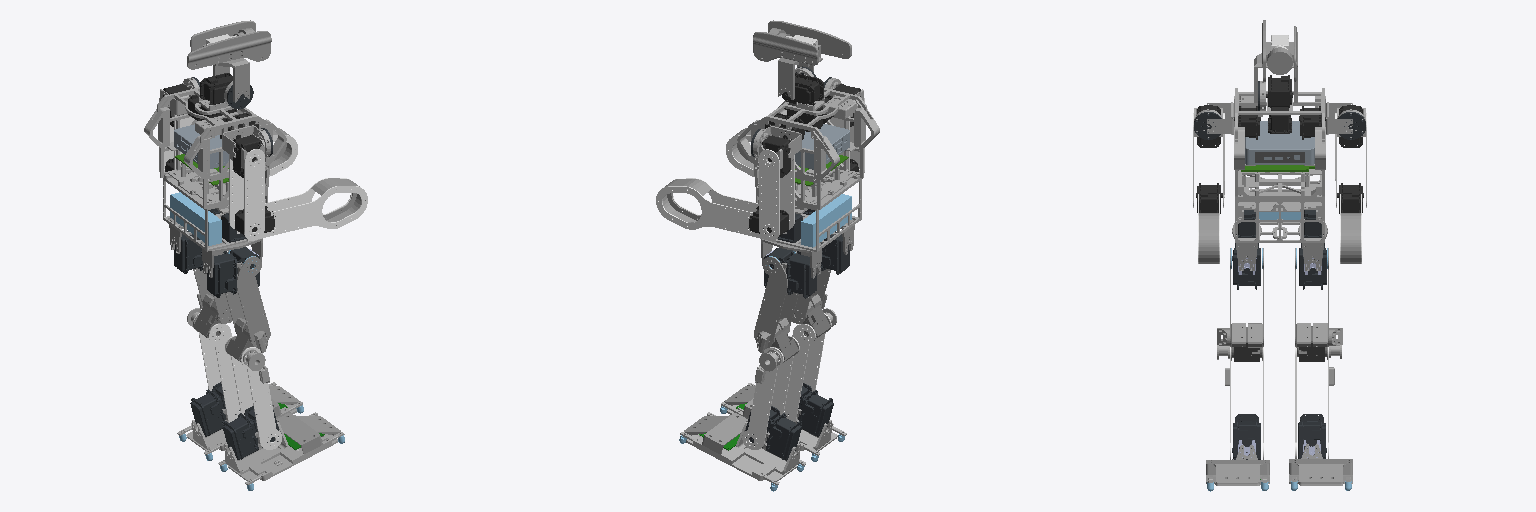
--- Facts derived from the render (not from the file) ---
The picture shows the robot from 3 angles, left to right: view 1: azimuth 30°, elevation 25°; view 2: azimuth 150°, elevation 25°; view 3: azimuth 270°, elevation 25°; orthographic projection.
Robot: wolfgang — 38 links, 37 joints (20 revolute, 17 fixed); root link base_link; default pose: every joint at zero.
Visible links, largest first — view 1: torso, head, r_foot, lower_arm_right_1, upper_arm_1, r_knee, lower_leg_right_1, lower_leg_left_1, l_foot, right_hip_left_ankle_1, l_knee, left_hip_right_ankle_1 (+7 smaller); view 2: torso, l_foot, lower_arm_left_1, head, upper_arm_2, l_knee, lower_leg_left_1, lower_leg_right_1, r_foot, left_hip_right_ankle_2, r_knee, right_hip_left_ankle_2 (+7 smaller); view 3: torso, head, l_foot, r_foot, lower_arm_right_1, lower_arm_left_1, l_knee, r_knee, shoulder_right_1, shoulder_left_1, left_hip_right_ankle_1, right_hip_left_ankle_2 (+6 smaller).
Link boxes in pixels (left/top/right/bottom): torso: left=144, top=87, right=286, bottom=251; head: left=187, top=20, right=271, bottom=108; r_foot: left=218, top=412, right=344, bottom=490; lower_arm_right_1: left=235, top=178, right=367, bottom=241; upper_arm_1: left=229, top=135, right=264, bottom=240; r_knee: left=225, top=250, right=270, bottom=361; lower_leg_right_1: left=225, top=336, right=281, bottom=449; lower_leg_left_1: left=187, top=308, right=240, bottom=422; l_foot: left=177, top=382, right=303, bottom=460; right_hip_left_ankle_1: left=207, top=247, right=259, bottom=297; l_knee: left=193, top=251, right=232, bottom=337; left_hip_right_ankle_1: left=223, top=406, right=278, bottom=459; torso: left=737, top=88, right=879, bottom=251; l_foot: left=679, top=412, right=805, bottom=484; lower_arm_left_1: left=656, top=178, right=788, bottom=241; head: left=753, top=20, right=851, bottom=99; upper_arm_2: left=759, top=135, right=794, bottom=240; l_knee: left=754, top=251, right=798, bottom=361; lower_leg_left_1: left=742, top=336, right=799, bottom=449; lower_leg_right_1: left=783, top=308, right=836, bottom=421; r_foot: left=720, top=383, right=846, bottom=461; left_hip_right_ankle_2: left=764, top=248, right=816, bottom=298; r_knee: left=792, top=252, right=830, bottom=337; right_hip_left_ankle_2: left=745, top=406, right=801, bottom=460; torso: left=1234, top=88, right=1325, bottom=242; head: left=1254, top=20, right=1297, bottom=110; l_foot: left=1289, top=444, right=1352, bottom=490; r_foot: left=1206, top=445, right=1269, bottom=491; lower_arm_right_1: left=1196, top=183, right=1222, bottom=263; lower_arm_left_1: left=1337, top=183, right=1363, bottom=263; l_knee: left=1295, top=248, right=1342, bottom=361; r_knee: left=1217, top=248, right=1263, bottom=361; shoulder_right_1: left=1194, top=102, right=1233, bottom=139; shoulder_left_1: left=1326, top=102, right=1365, bottom=139; left_hip_right_ankle_1: left=1232, top=414, right=1260, bottom=459; right_hip_left_ankle_2: left=1298, top=414, right=1326, bottom=458.
Bounding box of the posed robot: 0.3145 × 0.2895 × 0.8067 m (x, y, z).
Meshes: 53 distinct files referenced, 133 mesh visuals loaded (51 binary STL); not drawn: 2 (reference not matched to a file when rendering).

URDF robot description (wolfgang):
<?xml version="1.0" ?>
<!-- =================================================================================== -->
<!-- |    This document was autogenerated by xacro from robot.urdf                     | -->
<!-- |    EDITING THIS FILE BY HAND IS NOT RECOMMENDED                                 | -->
<!-- =================================================================================== -->
<robot name="wolfgang">
  <link name="base_link"/>
  <joint name="base_link_to_base" type="fixed">
    <parent link="base_link"/>
    <child link="torso"/>
    <origin rpy="0.0 0 0" xyz="0 0 0"/>
  </joint>
  <link name="torso">
    <visual>
      <origin rpy="-3.14159 1.5708 0" xyz="-0.0015 0.053 0.2035"/>
      <geometry>
        <mesh filename="package://wolfgang_description/urdf/mx-64-body.stl"/>
      </geometry>
      <material name="mx-64-body_material">
        <color rgba="0.247059 0.247059 0.247059 1.0"/>
      </material>
    </visual>
    <collision>
      <origin rpy="-3.14159 1.5708 0" xyz="-0.0015 0.053 0.2035"/>
      <geometry>
        <mesh filename="package://wolfgang_description/urdf/mx-64-body.stl"/>
      </geometry>
      <material name="mx-64-body_material">
        <color rgba="0.247059 0.247059 0.247059 1.0"/>
      </material>
    </collision>
    <visual>
      <origin rpy="1.5708 1.5708 0" xyz="0.058 0.07 0.1455"/>
      <geometry>
        <mesh filename="package://wolfgang_description/urdf/nuc_holdingrail_left.stl"/>
      </geometry>
      <material name="nuc_holdingrail_left_material">
        <color rgba="0.717647 0.717647 0.717647 1.0"/>
      </material>
    </visual>
    <collision>
      <origin rpy="1.5708 1.5708 0" xyz="0.058 0.07 0.1455"/>
      <geometry>
        <mesh filename="package://wolfgang_description/urdf/nuc_holdingrail_left.stl"/>
      </geometry>
      <material name="nuc_holdingrail_left_material">
        <color rgba="0.717647 0.717647 0.717647 1.0"/>
      </material>
    </collision>
    <visual>
      <origin rpy="1.5708 -0 -1.5708" xyz="-0.02625 0.0025 0.0275"/>
      <geometry>
        <mesh filename="package://wolfgang_description/urdf/battery_dummy.stl"/>
      </geometry>
      <material name="battery_dummy_material">
        <color rgba="0.615686 0.811765 0.929412 1.0"/>
      </material>
    </visual>
    <collision>
      <origin rpy="1.5708 -0 -1.5708" xyz="-0.02625 0.0025 0.0275"/>
      <geometry>
        <mesh filename="package://wolfgang_description/urdf/battery_dummy.stl"/>
      </geometry>
      <material name="battery_dummy_material">
        <color rgba="0.615686 0.811765 0.929412 1.0"/>
      </material>
    </collision>
    <visual>
      <origin rpy="-1.2326e-32 -1.5708 0" xyz="-0.0015 -0.053 0.2035"/>
      <geometry>
        <mesh filename="package://wolfgang_description/urdf/mx-64-body.stl"/>
      </geometry>
      <material name="mx-64-body_material">
        <color rgba="0.247059 0.247059 0.247059 1.0"/>
      </material>
    </visual>
    <collision>
      <origin rpy="-1.2326e-32 -1.5708 0" xyz="-0.0015 -0.053 0.2035"/>
      <geometry>
        <mesh filename="package://wolfgang_description/urdf/mx-64-body.stl"/>
      </geometry>
      <material name="mx-64-body_material">
        <color rgba="0.247059 0.247059 0.247059 1.0"/>
      </material>
    </collision>
    <visual>
      <origin rpy="-1.5708 -0 1.5708" xyz="-2.17271e-16 0.055 0.043"/>
      <geometry>
        <mesh filename="package://wolfgang_description/urdf/router_left.stl"/>
      </geometry>
      <material name="router_left_material">
        <color rgba="0.717647 0.717647 0.717647 1.0"/>
      </material>
    </visual>
    <collision>
      <origin rpy="-1.5708 -0 1.5708" xyz="-2.17271e-16 0.055 0.043"/>
      <geometry>
        <mesh filename="package://wolfgang_description/urdf/router_left.stl"/>
      </geometry>
      <material name="router_left_material">
        <color rgba="0.717647 0.717647 0.717647 1.0"/>
      </material>
    </collision>
    <visual>
      <origin rpy="-1.5708 6.08341e-17 1.5708" xyz="-0.057 0.077 0.213915"/>
      <geometry>
        <mesh filename="package://wolfgang_description/urdf/torso_bumper_right.stl"/>
      </geometry>
      <material name="torso_bumper_right_material">
        <color rgba="0.717647 0.717647 0.717647 1.0"/>
      </material>
    </visual>
    <collision>
      <origin rpy="-1.5708 6.08341e-17 1.5708" xyz="-0.057 0.077 0.213915"/>
      <geometry>
        <mesh filename="package://wolfgang_description/urdf/torso_bumper_right.stl"/>
      </geometry>
      <material name="torso_bumper_right_material">
        <color rgba="0.717647 0.717647 0.717647 1.0"/>
      </material>
    </collision>
    <visual>
      <origin rpy="-5.55112e-17 8.2173e-33 -1.5708" xyz="-0.01 0.001 0.118"/>
      <geometry>
        <mesh filename="package://wolfgang_description/urdf/core.stl"/>
      </geometry>
      <material name="core_material">
        <color rgba="0.282353 0.54902 0.160784 1.0"/>
      </material>
    </visual>
    <collision>
      <origin rpy="-5.55112e-17 8.2173e-33 -1.5708" xyz="-0.01 0.001 0.118"/>
      <geometry>
        <mesh filename="package://wolfgang_description/urdf/core.stl"/>
      </geometry>
      <material name="core_material">
        <color rgba="0.282353 0.54902 0.160784 1.0"/>
      </material>
    </collision>
    <visual>
      <origin rpy="1.5708 -0 -1.5708" xyz="0 -0.055 0.026"/>
      <geometry>
        <mesh filename="package://wolfgang_description/urdf/mx-106_body.stl"/>
      </geometry>
      <material name="mx-106_body_material">
        <color rgba="0.262745 0.282353 0.301961 1.0"/>
      </material>
    </visual>
    <collision>
      <origin rpy="1.5708 -0 -1.5708" xyz="0 -0.055 0.026"/>
      <geometry>
        <mesh filename="package://wolfgang_description/urdf/mx-106_body.stl"/>
      </geometry>
      <material name="mx-106_body_material">
        <color rgba="0.262745 0.282353 0.301961 1.0"/>
      </material>
    </collision>
    <visual>
      <origin rpy="-1.5708 -6.08341e-17 -1.5708" xyz="0.053 0.077 0.213915"/>
      <geometry>
        <mesh filename="package://wolfgang_description/urdf/torso_bumper_left.stl"/>
      </geometry>
      <material name="torso_bumper_left_material">
        <color rgba="0.717647 0.717647 0.717647 1.0"/>
      </material>
    </visual>
    <collision>
      <origin rpy="-1.5708 -6.08341e-17 -1.5708" xyz="0.053 0.077 0.213915"/>
      <geometry>
        <mesh filename="package://wolfgang_description/urdf/torso_bumper_left.stl"/>
      </geometry>
      <material name="torso_bumper_left_material">
        <color rgba="0.717647 0.717647 0.717647 1.0"/>
      </material>
    </collision>
    <visual>
      <origin rpy="1.5708 -0 -1.5708" xyz="-2.2754e-16 0.055 0.026"/>
      <geometry>
        <mesh filename="package://wolfgang_description/urdf/mx-106_body.stl"/>
      </geometry>
      <material name="mx-106_body_material">
        <color rgba="0.262745 0.282353 0.301961 1.0"/>
      </material>
    </visual>
    <collision>
      <origin rpy="1.5708 -0 -1.5708" xyz="-2.2754e-16 0.055 0.026"/>
      <geometry>
        <mesh filename="package://wolfgang_description/urdf/mx-106_body.stl"/>
      </geometry>
      <material name="mx-106_body_material">
        <color rgba="0.262745 0.282353 0.301961 1.0"/>
      </material>
    </collision>
    <visual>
      <origin rpy="1.11022e-16 1.0261e-16 1.5708" xyz="0.00265 -0.0001 0.1455"/>
      <geometry>
        <mesh filename="package://wolfgang_description/urdf/nuc_bottom.stl"/>
      </geometry>
      <material name="nuc_bottom_material">
        <color rgba="0.301961 0.301961 0.301961 1.0"/>
      </material>
    </visual>
    <collision>
      <origin rpy="1.11022e-16 1.0261e-16 1.5708" xyz="0.00265 -0.0001 0.1455"/>
      <geometry>
        <mesh filename="package://wolfgang_description/urdf/nuc_bottom.stl"/>
      </geometry>
      <material name="nuc_bottom_material">
        <color rgba="0.301961 0.301961 0.301961 1.0"/>
      </material>
    </collision>
    <visual>
      <origin rpy="-3.14159 1.5708 0" xyz="-0.0015 -0.036 0.2035"/>
      <geometry>
        <mesh filename="package://wolfgang_description/urdf/imu_holder.stl"/>
      </geometry>
      <material name="imu_holder_material">
        <color rgba="0.717647 0.717647 0.717647 1.0"/>
      </material>
    </visual>
    <collision>
      <origin rpy="-3.14159 1.5708 0" xyz="-0.0015 -0.036 0.2035"/>
      <geometry>
        <mesh filename="package://wolfgang_description/urdf/imu_holder.stl"/>
      </geometry>
      <material name="imu_holder_material">
        <color rgba="0.717647 0.717647 0.717647 1.0"/>
      </material>
    </collision>
    <visual>
      <origin rpy="1.66533e-16 -1.9123e-16 1.5708" xyz="0.00265 -0.0001 0.1455"/>
      <geometry>
        <mesh filename="package://wolfgang_description/urdf/nuc_front.stl"/>
      </geometry>
      <material name="nuc_front_material">
        <color rgba="0.4 0.4 0.4 1.0"/>
      </material>
    </visual>
    <collision>
      <origin rpy="1.66533e-16 -1.9123e-16 1.5708" xyz="0.00265 -0.0001 0.1455"/>
      <geometry>
        <mesh filename="package://wolfgang_description/urdf/nuc_front.stl"/>
      </geometry>
      <material name="nuc_front_material">
        <color rgba="0.4 0.4 0.4 1.0"/>
      </material>
    </collision>
    <visual>
      <origin rpy="0 -0 0" xyz="-0.062 0.075 0.003"/>
      <geometry>
        <mesh filename="package://wolfgang_description/urdf/torso_bottom.stl"/>
      </geometry>
      <material name="torso_bottom_material">
        <color rgba="0.717647 0.717647 0.717647 1.0"/>
      </material>
    </visual>
    <collision>
      <origin rpy="0 -0 0" xyz="-0.062 0.075 0.003"/>
      <geometry>
        <mesh filename="package://wolfgang_description/urdf/torso_bottom.stl"/>
      </geometry>
      <material name="torso_bottom_material">
        <color rgba="0.717647 0.717647 0.717647 1.0"/>
      </material>
    </collision>
    <visual>
      <origin rpy="3.14159 5.34761e-17 -1.5708" xyz="-0.037 -0.0478 0.2141"/>
      <geometry>
        <mesh filename="package://wolfgang_description/urdf/imu_bottom_cover.stl"/>
      </geometry>
      <material name="imu_bottom_cover_material">
        <color rgba="0.717647 0.717647 0.717647 1.0"/>
      </material>
    </visual>
    <collision>
      <origin rpy="3.14159 5.34761e-17 -1.5708" xyz="-0.037 -0.0478 0.2141"/>
      <geometry>
        <mesh filename="package://wolfgang_description/urdf/imu_bottom_cover.stl"/>
      </geometry>
      <material name="imu_bottom_cover_material">
        <color rgba="0.717647 0.717647 0.717647 1.0"/>
      </material>
    </collision>
    <visual>
      <origin rpy="-1.5708 -0 1.5708" xyz="-0.0095 2.94903e-16 0.211"/>
      <geometry>
        <mesh filename="package://wolfgang_description/urdf/mx-64-body.stl"/>
      </geometry>
      <material name="mx-64-body_material">
        <color rgba="0.247059 0.247059 0.247059 1.0"/>
      </material>
    </visual>
    <collision>
      <origin rpy="-1.5708 -0 1.5708" xyz="-0.0095 2.94903e-16 0.211"/>
      <geometry>
        <mesh filename="package://wolfgang_description/urdf/mx-64-body.stl"/>
      </geometry>
      <material name="mx-64-body_material">
        <color rgba="0.247059 0.247059 0.247059 1.0"/>
      </material>
    </collision>
    <visual>
      <origin rpy="-1.5708 1.0261e-16 1.5708" xyz="1.35075e-15 -0.055 0.043"/>
      <geometry>
        <mesh filename="package://wolfgang_description/urdf/router_right.stl"/>
      </geometry>
      <material name="router_right_material">
        <color rgba="0.717647 0.717647 0.717647 1.0"/>
      </material>
    </visual>
    <collision>
      <origin rpy="-1.5708 1.0261e-16 1.5708" xyz="1.35075e-15 -0.055 0.043"/>
      <geometry>
        <mesh filename="package://wolfgang_description/urdf/router_right.stl"/>
      </geometry>
      <material name="router_right_material">
        <color rgba="0.717647 0.717647 0.717647 1.0"/>
      </material>
    </collision>
    <visual>
      <origin rpy="-1.5708 -6.08341e-17 1.5708" xyz="-0.057 -0.077 0.213915"/>
      <geometry>
        <mesh filename="package://wolfgang_description/urdf/torso_bumper_left.stl"/>
      </geometry>
      <material name="torso_bumper_left_material">
        <color rgba="0.717647 0.717647 0.717647 1.0"/>
      </material>
    </visual>
    <collision>
      <origin rpy="-1.5708 -6.08341e-17 1.5708" xyz="-0.057 -0.077 0.213915"/>
      <geometry>
        <mesh filename="package://wolfgang_description/urdf/torso_bumper_left.stl"/>
      </geometry>
      <material name="torso_bumper_left_material">
        <color rgba="0.717647 0.717647 0.717647 1.0"/>
      </material>
    </collision>
    <visual>
      <origin rpy="-5.55112e-17 -1.64346e-32 -1.5708" xyz="-0.002 -3.19189e-16 0.088"/>
      <geometry>
        <mesh filename="package://wolfgang_description/urdf/baseplate_odroid_xu4_core.stl"/>
      </geometry>
      <material name="baseplate_odroid_xu4_core_material">
        <color rgba="0.717647 0.717647 0.717647 1.0"/>
      </material>
    </visual>
    <collision>
      <origin rpy="-5.55112e-17 -1.64346e-32 -1.5708" xyz="-0.002 -3.19189e-16 0.088"/>
      <geometry>
        <mesh filename="package://wolfgang_description/urdf/baseplate_odroid_xu4_core.stl"/>
      </geometry>
      <material name="baseplate_odroid_xu4_core_material">
        <color rgba="0.717647 0.717647 0.717647 1.0"/>
      </material>
    </collision>
    <visual>
      <origin rpy="-1.5708 6.91935e-17 -1.5708" xyz="0.051 0.0367 0.057"/>
      <geometry>
        <mesh filename="package://wolfgang_description/urdf/router.stl"/>
      </geometry>
      <material name="router_material">
        <color rgba="0.717647 0.717647 0.717647 1.0"/>
      </material>
    </visual>
    <collision>
      <origin rpy="-1.5708 6.91935e-17 -1.5708" xyz="0.051 0.0367 0.057"/>
      <geometry>
        <mesh filename="package://wolfgang_description/urdf/router.stl"/>
      </geometry>
      <material name="router_material">
        <color rgba="0.717647 0.717647 0.717647 1.0"/>
      </material>
    </collision>
    <visual>
      <origin rpy="1.11022e-16 2.83582e-16 1.5708" xyz="0.00265 -0.0001 0.1455"/>
      <geometry>
        <mesh filename="package://wolfgang_description/urdf/nuc_main.stl"/>
      </geometry>
      <material name="nuc_main_material">
        <color rgba="0.603922 0.647059 0.686275 1.0"/>
      </material>
    </visual>
    <collision>
      <origin rpy="1.11022e-16 2.83582e-16 1.5708" xyz="0.00265 -0.0001 0.1455"/>
      <geometry>
        <mesh filename="package://wolfgang_description/urdf/nuc_main.stl"/>
      </geometry>
      <material name="nuc_main_material">
        <color rgba="0.603922 0.647059 0.686275 1.0"/>
      </material>
    </collision>
    <visual>
      <origin rpy="-1.5708 6.08341e-17 -1.5708" xyz="0.053 -0.077 0.213915"/>
      <geometry>
        <mesh filename="package://wolfgang_description/urdf/torso_bumper_right.stl"/>
      </geometry>
      <material name="torso_bumper_right_material">
        <color rgba="0.717647 0.717647 0.717647 1.0"/>
      </material>
    </visual>
    <collision>
      <origin rpy="-1.5708 6.08341e-17 -1.5708" xyz="0.053 -0.077 0.213915"/>
      <geometry>
        <mesh filename="package://wolfgang_description/urdf/torso_bumper_right.stl"/>
      </geometry>
      <material name="torso_bumper_right_material">
        <color rgba="0.717647 0.717647 0.717647 1.0"/>
      </material>
    </collision>
    <visual>
      <origin rpy="1.5708 1.5708 0" xyz="0.058 -0.07 0.1455"/>
      <geometry>
        <mesh filename="package://wolfgang_description/urdf/nuc_holdingrail_right.stl"/>
      </geometry>
      <material name="nuc_holdingrail_right_material">
        <color rgba="0.717647 0.717647 0.717647 1.0"/>
      </material>
    </visual>
    <collision>
      <origin rpy="1.5708 1.5708 0" xyz="0.058 -0.07 0.1455"/>
      <geometry>
        <mesh filename="package://wolfgang_description/urdf/nuc_holdingrail_right.stl"/>
      </geometry>
      <material name="nuc_holdingrail_right_material">
        <color rgba="0.717647 0.717647 0.717647 1.0"/>
      </material>
    </collision>
    <visual>
      <origin rpy="0 -0 1.5708" xyz="-0.077 -0.075 0.083"/>
      <geometry>
        <mesh filename="package://wolfgang_description/urdf/torso_top.stl"/>
      </geometry>
      <material name="torso_top_material">
        <color rgba="0.717647 0.717647 0.717647 1.0"/>
      </material>
    </visual>
    <collision>
      <origin rpy="0 -0 1.5708" xyz="-0.077 -0.075 0.083"/>
      <geometry>
        <mesh filename="package://wolfgang_description/urdf/torso_top.stl"/>
      </geometry>
      <material name="torso_top_material">
        <color rgba="0.717647 0.717647 0.717647 1.0"/>
      </material>
    </collision>
    <inertial>
      <origin rpy="0 0 0" xyz="-0.00177581 -9.7212e-05 0.107062"/>
      <mass value="1.79116"/>
      <inertia ixx="0.0165883" ixy="5.67507e-06" ixz="-0.000843992" iyy="0.0143606" iyz="0.000156333" izz="0.00676935"/>
    </inertial>
  </link>
  <link name="imu_frame">
    <inertial>
      <origin rpy="0 0 0" xyz="0 0 0"/>
      <mass value="1e-9"/>
      <inertia ixx="0" ixy="0" ixz="0" iyy="0" iyz="0" izz="0"/>
    </inertial>
  </link>
  <joint name="imu_frame_frame" type="fixed">
    <origin rpy="5.31321e-16 -3.12873e-17 4.65401e-17" xyz="-0.0367504 -0.0478024 0.224"/>
    <parent link="torso"/>
    <child link="imu_frame"/>
    <axis xyz="0 0 0"/>
  </joint>
  <link name="shoulder_right_1">
    <visual>
      <origin rpy="-1.5708 2.89513e-24 1.5708" xyz="-0.02595 0.042 2.77556e-17"/>
      <geometry>
        <mesh filename="package://wolfgang_description/urdf/sea_connector.stl"/>
      </geometry>
      <material name="sea_connector_material">
        <color rgba="0.262745 0.282353 0.301961 1.0"/>
      </material>
    </visual>
    <collision>
      <origin rpy="-1.5708 2.89513e-24 1.5708" xyz="-0.02595 0.042 2.77556e-17"/>
      <geometry>
        <mesh filename="package://wolfgang_description/urdf/sea_connector.stl"/>
      </geometry>
      <material name="sea_connector_material">
        <color rgba="0.262745 0.282353 0.301961 1.0"/>
      </material>
    </collision>
    <visual>
      <origin rpy="-1.5708 2.89513e-24 1.5708" xyz="-0.01695 0.042 8.32667e-17"/>
      <geometry>
        <mesh filename="package://wolfgang_description/urdf/sea_ninjaflex.stl"/>
      </geometry>
      <material name="sea_ninjaflex_material">
        <color rgba="0.717647 0.717647 0.717647 1.0"/>
      </material>
    </visual>
    <collision>
      <origin rpy="-1.5708 2.89513e-24 1.5708" xyz="-0.01695 0.042 8.32667e-17"/>
      <geometry>
        <mesh filename="package://wolfgang_description/urdf/sea_ninjaflex.stl"/>
      </geometry>
      <material name="sea_ninjaflex_material">
        <color rgba="0.717647 0.717647 0.717647 1.0"/>
      </material>
    </collision>
    <visual>
      <origin rpy="2.4048e-34 -1.72563e-31 -1.5783e-33" xyz="0 0 2.77556e-17"/>
      <geometry>
        <mesh filename="package://wolfgang_description/urdf/shoulder_connector.stl"/>
      </geometry>
      <material name="shoulder_connector_material">
        <color rgba="0.717647 0.717647 0.717647 1.0"/>
      </material>
    </visual>
    <collision>
      <origin rpy="2.4048e-34 -1.72563e-31 -1.5783e-33" xyz="0 0 2.77556e-17"/>
      <geometry>
        <mesh filename="package://wolfgang_description/urdf/shoulder_connector.stl"/>
      </geometry>
      <material name="shoulder_connector_material">
        <color rgba="0.717647 0.717647 0.717647 1.0"/>
      </material>
    </collision>
    <inertial>
      <origin rpy="0 0 0" xyz="-0.0135397 0.0284022 -1.54699e-06"/>
      <mass value="0.041445"/>
      <inertia ixx="1.85473e-05" ixy="7.63058e-06" ixz="-9.41386e-10" iyy="2.76649e-05" iyz="8.71825e-10" izz="3.49573e-05"/>
    </inertial>
  </link>
  <link name="upper_arm_1">
    <visual>
      <origin rpy="-1.5708 4.16334e-16 -2.10942e-15" xyz="1.38778e-17 1.11022e-16 -0.0235"/>
      <geometry>
        <mesh filename="package://wolfgang_description/urdf/mx-64-body.stl"/>
      </geometry>
      <material name="mx-64-body_material">
        <color rgba="0.247059 0.247059 0.247059 1.0"/>
      </material>
    </visual>
    <collision>
      <origin rpy="-1.5708 4.16334e-16 -2.10942e-15" xyz="1.38778e-17 1.11022e-16 -0.0235"/>
      <geometry>
        <mesh filename="package://wolfgang_description/urdf/mx-64-body.stl"/>
      </geometry>
      <material name="mx-64-body_material">
        <color rgba="0.247059 0.247059 0.247059 1.0"/>
      </material>
    </collision>
    <visual>
      <origin rpy="-1.5708 -1.5708 0" xyz="0.0265 -0.144 -0.0235"/>
      <geometry>
        <mesh filename="package://wolfgang_description/urdf/upper_arm.stl"/>
      </geometry>
      <material name="upper_arm_material">
        <color rgba="0.960784 0.960784 0.960784 1.0"/>
      </material>
    </visual>
    <collision>
      <origin rpy="-1.5708 -1.5708 0" xyz="0.0265 -0.144 -0.0235"/>
      <geometry>
        <mesh filename="package://wolfgang_description/urdf/upper_arm.stl"/>
      </geometry>
      <material name="upper_arm_material">
        <color rgba="0.960784 0.960784 0.960784 1.0"/>
      </material>
    </collision>
    <visual>
      <origin rpy="-1.5708 -8.88178e-16 1.5708" xyz="-0.0147 -0.0105 -0.0235"/>
      <geometry>
        <mesh filename="package://wolfgang_description/urdf/connector_shoulder.stl"/>
      </geometry>
      <material name="connector_shoulder_material">
        <color rgba="0.717647 0.717647 0.717647 1.0"/>
      </material>
    </visual>
    <collision>
      <origin rpy="-1.5708 -8.88178e-16 1.5708" xyz="-0.0147 -0.0105 -0.0235"/>
      <geometry>
        <mesh filename="package://wolfgang_description/urdf/connector_shoulder.stl"/>
      </geometry>
      <material name="connector_shoulder_material">
        <color rgba="0.717647 0.717647 0.717647 1.0"/>
      </material>
    </collision>
    <visual>
      <origin rpy="-1.5708 1.5708 0" xyz="-0.0265 -0.144 -0.0235"/>
      <geometry>
        <mesh filename="package://wolfgang_description/urdf/upper_arm.stl"/>
      </geometry>
      <material name="upper_arm_material">
        <color rgba="0.960784 0.960784 0.960784 1.0"/>
      </material>
    </visual>
    <collision>
      <origin rpy="-1.5708 1.5708 0" xyz="-0.0265 -0.144 -0.0235"/>
      <geometry>
        <mesh filename="package://wolfgang_description/urdf/upper_arm.stl"/>
      </geometry>
      <material name="upper_arm_material">
        <color rgba="0.960784 0.960784 0.960784 1.0"/>
      </material>
    </collision>
    <visual>
      <origin rpy="1.5708 -8.88178e-16 1.5708" xyz="0.0147 -0.0105 -0.0235"/>
      <geometry>
        <mesh filename="package://wolfgang_description/urdf/connector_shoulder.stl"/>
      </geometry>
      <material name="connector_shoulder_material">
        <color rgba="0.717647 0.717647 0.717647 1.0"/>
      </material>
    </visual>
    <collision>
      <origin rpy="1.5708 -8.88178e-16 1.5708" xyz="0.0147 -0.0105 -0.0235"/>
      <geometry>
        <mesh filename="package://wolfgang_description/urdf/connector_shoulder.stl"/>
      </geometry>
      <material name="connector_shoulder_material">
        <color rgba="0.717647 0.717647 0.717647 1.0"/>
      </material>
    </collision>
    <inertial>
      <origin rpy="0 0 0" xyz="6.71448e-10 -0.0286557 -0.0235557"/>
      <mass value="0.206164"/>
      <inertia ixx="0.000204986" ixy="1.94871e-12" ixz="3.40342e-12" iyy="0.000171949" iyz="-3.58687e-07" izz="0.000333232"/>
    </inertial>
  </link>
  <link name="lower_arm_right_1">
    <visual>
      <origin rpy="-1.5708 -1.02349e-15 -3.14159" xyz="3.19189e-16 -0.163682 -0.0065"/>
      <geometry>
        <mesh filename="package://wolfgang_description/urdf/lower_arm.stl"/>
      </geometry>
      <material name="lower_arm_material">
        <color rgba="0.960784 0.960784 0.960784 1.0"/>
      </material>
    </visual>
    <collision>
      <origin rpy="-1.5708 -1.02349e-15 -3.14159" xyz="3.19189e-16 -0.163682 -0.0065"/>
      <geometry>
        <mesh filename="package://wolfgang_description/urdf/lower_arm.stl"/>
      </geometry>
      <material name="lower_arm_material">
        <color rgba="0.960784 0.960784 0.960784 1.0"/>
      </material>
    </collision>
    <visual>
      <origin rpy="-1.5708 5.6205e-16 -5.30016e-31" xyz="0 -3.46945e-18 -0.0235"/>
      <geometry>
        <mesh filename="package://wolfgang_description/urdf/mx-64-body.stl"/>
      </geometry>
      <material name="mx-64-body_material">
        <color rgba="0.247059 0.247059 0.247059 1.0"/>
      </material>
    </visual>
    <collision>
      <origin rpy="-1.5708 5.6205e-16 -5.30016e-31" xyz="0 -3.46945e-18 -0.0235"/>
      <geometry>
        <mesh filename="package://wolfgang_description/urdf/mx-64-body.stl"/>
      </geometry>
      <material name="mx-64-body_material">
        <color rgba="0.247059 0.247059 0.247059 1.0"/>
      </material>
    </collision>
    <visual>
      <origin rpy="1.5708 1.84661e-15 9.4369e-16" xyz="2.70617e-16 -0.163682 -0.0065"/>
      <geometry>
        <mesh filename="package://wolfgang_description/urdf/hand.stl"/>
      </geometry>
      <material name="hand_material">
        <color rgba="0.647059 0.647059 0.647059 1.0"/>
      </material>
    </visual>
    <collision>
      <origin rpy="1.5708 1.84661e-15 9.4369e-16" xyz="2.70617e-16 -0.163682 -0.0065"/>
      <geometry>
        <mesh filename="package://wolfgang_description/urdf/hand.stl"/>
      </geometry>
      <material name="hand_material">
        <color rgba="0.647059 0.647059 0.647059 1.0"/>
      </material>
    </collision>
    <visual>
      <origin rpy="-1.5708 -7.02563e-16 -3.14159" xyz="2.84495e-16 -0.163682 -0.0425"/>
      <geometry>
        <mesh filename="package://wolfgang_description/urdf/lower_arm.stl"/>
      </geometry>
      <material name="lower_arm_material">
        <color rgba="0.960784 0.960784 0.960784 1.0"/>
      </material>
    </visual>
    <collision>
      <origin rpy="-1.5708 -7.02563e-16 -3.14159" xyz="2.84495e-16 -0.163682 -0.0425"/>
      <geometry>
        <mesh filename="package://wolfgang_description/urdf/lower_arm.stl"/>
      </geometry>
      <material name="lower_arm_material">
        <color rgba="0.960784 0.960784 0.960784 1.0"/>
      </material>
    </collision>
    <inertial>
      <origin rpy="0 0 0" xyz="0.000436307 -0.0605126 -0.0235553"/>
      <mass value="0.207774"/>
      <inertia ixx="0.001088" ixy="-1.16188e-06" ixz="-5.01515e-09" iyy="8.90324e-05" iyz="-3.22666e-08" izz="0.00110076"/>
    </inertial>
  </link>
  <link name="r_wrist">
    <inertial>
      <origin rpy="0 0 0" xyz="0 0 0"/>
      <mass value="1e-9"/>
      <inertia ixx="0" ixy="0" ixz="0" iyy="0" iyz="0" izz="0"/>
    </inertial>
  </link>
  <joint name="r_wrist_frame" type="fixed">
    <origin rpy="1.5708 7.31053e-15 -1.5708" xyz="3.1225e-16 -0.226182 -0.0235"/>
    <parent link="lower_arm_right_1"/>
    <child link="r_wrist"/>
    <axis xyz="0 0 0"/>
  </joint>
  <joint name="RElbow" type="revolute">
    <origin rpy="-1.5708 1.27676e-15 -1.5708" xyz="0.024 -0.144 -0.0235"/>
    <parent link="upper_arm_1"/>
    <child link="lower_arm_right_1"/>
    <axis xyz="0 0 1"/>
    <limit effort="5.43" lower="-1.0472" upper="1.5708" velocity="10.33"/>
    <joint_properties friction="0.0"/>
  </joint>
  <joint name="RShoulderRoll" type="revolute">
    <origin rpy="1.5708 8.32338e-16 -1.5708" xyz="-0.01695 0.042 0"/>
    <parent link="shoulder_right_1"/>
    <child link="upper_arm_1"/>
    <axis xyz="0 0 1"/>
    <limit effort="5.43" lower="-3.14159" upper="0" velocity="10.33"/>
    <joint_properties friction="0.0"/>
  </joint>
  <joint name="RShoulderPitch" type="revolute">
    <origin rpy="-4.34612e-17 1.66533e-15 -3.14159" xyz="-0.0015 -0.0765 0.2035"/>
    <parent link="torso"/>
    <child link="shoulder_right_1"/>
    <axis xyz="0 -1 0"/>
    <limit effort="5.43" lower="-3.14159" upper="3.14159" velocity="10.33"/>
    <joint_properties friction="0.0"/>
  </joint>
  <link name="shoulder_left_1">
    <visual>
      <origin rpy="1.5708 -2.47462e-18 -1.5708" xyz="-0.02595 0.042 0"/>
      <geometry>
        <mesh filename="package://wolfgang_description/urdf/sea_connector.stl"/>
      </geometry>
      <material name="sea_connector_material">
        <color rgba="0.262745 0.282353 0.301961 1.0"/>
      </material>
    </visual>
    <collision>
      <origin rpy="1.5708 -2.47462e-18 -1.5708" xyz="-0.02595 0.042 0"/>
      <geometry>
        <mesh filename="package://wolfgang_description/urdf/sea_connector.stl"/>
      </geometry>
      <material name="sea_connector_material">
        <color rgba="0.262745 0.282353 0.301961 1.0"/>
      </material>
    </collision>
    <visual>
      <origin rpy="-1.07025e-32 -0 1.2024e-34" xyz="0 0 0"/>
      <geometry>
        <mesh filename="package://wolfgang_description/urdf/shoulder_connector.stl"/>
      </geometry>
      <material name="shoulder_connector_material">
        <color rgba="0.717647 0.717647 0.717647 1.0"/>
      </material>
    </visual>
    <collision>
      <origin rpy="-1.07025e-32 -0 1.2024e-34" xyz="0 0 0"/>
      <geometry>
        <mesh filename="package://wolfgang_description/urdf/shoulder_connector.stl"/>
      </geometry>
      <material name="shoulder_connector_material">
        <color rgba="0.717647 0.717647 0.717647 1.0"/>
      </material>
    </collision>
    <visual>
      <origin rpy="1.5708 -2.47462e-18 -1.5708" xyz="-0.01695 0.042 0"/>
      <geometry>
        <mesh filename="package://wolfgang_description/urdf/sea_ninjaflex.stl"/>
      </geometry>
      <material name="sea_ninjaflex_material">
        <color rgba="0.717647 0.717647 0.717647 1.0"/>
      </material>
    </visual>
    <collision>
      <origin rpy="1.5708 -2.47462e-18 -1.5708" xyz="-0.01695 0.042 0"/>
      <geometry>
        <mesh filename="package://wolfgang_description/urdf/sea_ninjaflex.stl"/>
      </geometry>
      <material name="sea_ninjaflex_material">
        <color rgba="0.717647 0.717647 0.717647 1.0"/>
      </material>
    </collision>
    <inertial>
      <origin rpy="0 0 0" xyz="-0.0135397 0.0284022 1.54699e-06"/>
      <mass value="0.041445"/>
      <inertia ixx="1.85473e-05" ixy="7.63058e-06" ixz="9.41386e-10" iyy="2.76649e-05" iyz="-8.71825e-10" izz="3.49573e-05"/>
    </inertial>
  </link>
  <link name="upper_arm_2">
    <visual>
      <origin rpy="-1.5708 4.4964e-15 1.1855e-29" xyz="1.38778e-17 5.55112e-17 -0.0235"/>
      <geometry>
        <mesh filename="package://wolfgang_description/urdf/mx-64-body.stl"/>
      </geometry>
      <material name="mx-64-body_material">
        <color rgba="0.247059 0.247059 0.247059 1.0"/>
      </material>
    </visual>
    <collision>
      <origin rpy="-1.5708 4.4964e-15 1.1855e-29" xyz="1.38778e-17 5.55112e-17 -0.0235"/>
      <geometry>
        <mesh filename="package://wolfgang_description/urdf/mx-64-body.stl"/>
      </geometry>
      <material name="mx-64-body_material">
        <color rgba="0.247059 0.247059 0.247059 1.0"/>
      </material>
    </collision>
    <visual>
      <origin rpy="-1.5708 9.99201e-15 1.5708" xyz="-0.0147 -0.0105 -0.0235"/>
      <geometry>
        <mesh filename="package://wolfgang_description/urdf/connector_shoulder.stl"/>
      </geometry>
      <material name="connector_shoulder_material">
        <color rgba="0.717647 0.717647 0.717647 1.0"/>
      </material>
    </visual>
    <collision>
      <origin rpy="-1.5708 9.99201e-15 1.5708" xyz="-0.0147 -0.0105 -0.0235"/>
      <geometry>
        <mesh filename="package://wolfgang_description/urdf/connector_shoulder.stl"/>
      </geometry>
      <material name="connector_shoulder_material">
        <color rgba="0.717647 0.717647 0.717647 1.0"/>
      </material>
    </collision>
    <visual>
      <origin rpy="1.5708 1.02696e-14 1.5708" xyz="0.0147 -0.0105 -0.0235"/>
      <geometry>
        <mesh filename="package://wolfgang_description/urdf/connector_shoulder.stl"/>
      </geometry>
      <material name="connector_shoulder_material">
        <color rgba="0.717647 0.717647 0.717647 1.0"/>
      </material>
    </visual>
    <collision>
      <origin rpy="1.5708 1.02696e-14 1.5708" xyz="0.0147 -0.0105 -0.0235"/>
      <geometry>
        <mesh filename="package://wolfgang_description/urdf/connector_shoulder.stl"/>
      </geometry>
      <material name="connector_shoulder_material">
        <color rgba="0.717647 0.717647 0.717647 1.0"/>
      </material>
    </collision>
    <visual>
      <origin rpy="-1.5708 1.5708 0" xyz="-0.0265 -0.144 -0.0235"/>
      <geometry>
        <mesh filename="package://wolfgang_description/urdf/upper_arm.stl"/>
      </geometry>
      <material name="upper_arm_material">
        <color rgba="0.960784 0.960784 0.960784 1.0"/>
      </material>
    </visual>
    <collision>
      <origin rpy="-1.5708 1.5708 0" xyz="-0.0265 -0.144 -0.0235"/>
      <geometry>
        <mesh filename="package://wolfgang_description/urdf/upper_arm.stl"/>
      </geometry>
      <material name="upper_arm_material">
        <color rgba="0.960784 0.960784 0.960784 1.0"/>
      </material>
    </collision>
    <visual>
      <origin rpy="-1.5708 -1.5708 0" xyz="0.0265 -0.144 -0.0235"/>
      <geometry>
        <mesh filename="package://wolfgang_description/urdf/upper_arm.stl"/>
      </geometry>
      <material name="upper_arm_material">
        <color rgba="0.960784 0.960784 0.960784 1.0"/>
      </material>
    </visual>
    <collision>
      <origin rpy="-1.5708 -1.5708 0" xyz="0.0265 -0.144 -0.0235"/>
      <geometry>
        <mesh filename="package://wolfgang_description/urdf/upper_arm.stl"/>
      </geometry>
      <material name="upper_arm_material">
        <color rgba="0.960784 0.960784 0.960784 1.0"/>
      </material>
    </collision>
    <inertial>
      <origin rpy="0 0 0" xyz="6.71449e-10 -0.0286557 -0.0235557"/>
      <mass value="0.206164"/>
      <inertia ixx="0.000204986" ixy="1.94871e-12" ixz="3.40342e-12" iyy="0.000171949" iyz="-3.58687e-07" izz="0.000333232"/>
    </inertial>
  </link>
  <link name="lower_arm_left_1">
    <visual>
      <origin rpy="-1.5708 -8.30884e-31 -1.04771e-30" xyz="0 -1.73472e-18 -0.0235"/>
      <geometry>
        <mesh filename="package://wolfgang_description/urdf/mx-64-body.stl"/>
      </geometry>
      <material name="mx-64-body_material">
        <color rgba="0.247059 0.247059 0.247059 1.0"/>
      </material>
    </visual>
    <collision>
      <origin rpy="-1.5708 -8.30884e-31 -1.04771e-30" xyz="0 -1.73472e-18 -0.0235"/>
      <geometry>
        <mesh filename="package://wolfgang_description/urdf/mx-64-body.stl"/>
      </geometry>
      <material name="mx-64-body_material">
        <color rgba="0.247059 0.247059 0.247059 1.0"/>
      </material>
    </collision>
    <visual>
      <origin rpy="1.5708 -5.48692e-31 -8.50491e-31" xyz="1.84575e-15 -0.163682 -0.0405"/>
      <geometry>
        <mesh filename="package://wolfgang_description/urdf/lower_arm.stl"/>
      </geometry>
      <material name="lower_arm_material">
        <color rgba="0.960784 0.960784 0.960784 1.0"/>
      </material>
    </visual>
    <collision>
      <origin rpy="1.5708 -5.48692e-31 -8.50491e-31" xyz="1.84575e-15 -0.163682 -0.0405"/>
      <geometry>
        <mesh filename="package://wolfgang_description/urdf/lower_arm.stl"/>
      </geometry>
      <material name="lower_arm_material">
        <color rgba="0.960784 0.960784 0.960784 1.0"/>
      </material>
    </collision>
    <visual>
      <origin rpy="-1.5708 5.10009e-16 3.14159" xyz="-5.13478e-16 -0.163682 -0.0405"/>
      <geometry>
        <mesh filename="package://wolfgang_description/urdf/hand.stl"/>
      </geometry>
      <material name="hand_material">
        <color rgba="0.647059 0.647059 0.647059 1.0"/>
      </material>
    </visual>
    <collision>
      <origin rpy="-1.5708 5.10009e-16 3.14159" xyz="-5.13478e-16 -0.163682 -0.0405"/>
      <geometry>
        <mesh filename="package://wolfgang_description/urdf/hand.stl"/>
      </geometry>
      <material name="hand_material">
        <color rgba="0.647059 0.647059 0.647059 1.0"/>
      </material>
    </collision>
    <visual>
      <origin rpy="1.5708 -5.10009e-16 -1.72085e-15" xyz="9.02056e-17 -0.163682 -0.0045"/>
      <geometry>
        <mesh filename="package://wolfgang_description/urdf/lower_arm.stl"/>
      </geometry>
      <material name="lower_arm_material">
        <color rgba="0.960784 0.960784 0.960784 1.0"/>
      </material>
    </visual>
    <collision>
      <origin rpy="1.5708 -5.10009e-16 -1.72085e-15" xyz="9.02056e-17 -0.163682 -0.0045"/>
      <geometry>
        <mesh filename="package://wolfgang_description/urdf/lower_arm.stl"/>
      </geometry>
      <material name="lower_arm_material">
        <color rgba="0.960784 0.960784 0.960784 1.0"/>
      </material>
    </collision>
    <inertial>
      <origin rpy="0 0 0" xyz="-0.000436306 -0.0605126 -0.0235553"/>
      <mass value="0.207774"/>
      <inertia ixx="0.001088" ixy="-1.14836e-05" ixz="5.01178e-09" iyy="8.90324e-05" iyz="-3.22666e-08" izz="0.00110076"/>
    </inertial>
  </link>
  <link name="l_wrist">
    <inertial>
      <origin rpy="0 0 0" xyz="0 0 0"/>
      <mass value="1e-9"/>
      <inertia ixx="0" ixy="0" ixz="0" iyy="0" iyz="0" izz="0"/>
    </inertial>
  </link>
  <joint name="l_wrist_frame" type="fixed">
    <origin rpy="-1.5708 6.97876e-16 -1.5708" xyz="2.91434e-16 -0.225182 -0.0235"/>
    <parent link="lower_arm_left_1"/>
    <child link="l_wrist"/>
    <axis xyz="0 0 0"/>
  </joint>
  <joint name="LElbow" type="revolute">
    <origin rpy="-1.5708 1.11022e-14 1.5708" xyz="-0.024 -0.144 -0.0235"/>
    <parent link="upper_arm_2"/>
    <child link="lower_arm_left_1"/>
    <axis xyz="0 0 1"/>
    <limit effort="5.43" lower="-1.5708" upper="1.0472" velocity="10.33"/>
    <joint_properties friction="0.0"/>
  </joint>
  <joint name="LShoulderRoll" type="revolute">
    <origin rpy="-1.5708 8.42077e-17 1.5708" xyz="-0.01695 0.042 8.32667e-17"/>
    <parent link="shoulder_left_1"/>
    <child link="upper_arm_2"/>
    <axis xyz="0 0 1"/>
    <limit effort="5.43" lower="0" upper="3.14159" velocity="10.33"/>
    <joint_properties friction="0.0"/>
  </joint>
  <joint name="LShoulderPitch" type="revolute">
    <origin rpy="3.14159 7.77156e-16 3.14159" xyz="-0.0015 0.0765 0.2035"/>
    <parent link="torso"/>
    <child link="shoulder_left_1"/>
    <axis xyz="0 -1 0"/>
    <limit effort="5.43" lower="-3.14159" upper="3.14159" velocity="10.33"/>
    <joint_properties friction="0.0"/>
  </joint>
  <link name="hip_u_connector_1">
    <visual>
      <origin rpy="-5.5278e-33 -0 0" xyz="0 -0.0006 -0.018"/>
      <geometry>
        <mesh filename="package://wolfgang_description/urdf/hip_u_connector.stl"/>
      </geometry>
      <material name="hip_u_connector_material">
        <color rgba="0.647059 0.647059 0.647059 1.0"/>
      </material>
    </visual>
    <collision>
      <origin rpy="-5.5278e-33 -0 0" xyz="0 -0.0006 -0.018"/>
      <geometry>
        <mesh filename="package://wolfgang_description/urdf/hip_u_connector.stl"/>
      </geometry>
      <material name="hip_u_connector_material">
        <color rgba="0.647059 0.647059 0.647059 1.0"/>
      </material>
    </collision>
    <inertial>
      <origin rpy="0 0 0" xyz="1.20984e-11 0.010315 -1.06799e-07"/>
      <mass value="0.0689735"/>
      <inertia ixx="2.18955e-05" ixy="-2.44475e-14" ixz="3.06793e-15" iyy="0.00010714" iyz="-6.56688e-11" izz="0.000110523"/>
    </inertial>
  </link>
  <link name="right_hip_left_ankle_1">
    <visual>
      <origin rpy="-1.5708 4.34181e-16 -6.8556e-16" xyz="0 0 -0.026"/>
      <geometry>
        <mesh filename="package://wolfgang_description/urdf/mx-106_body.stl"/>
      </geometry>
      <material name="mx-106_body_material">
        <color rgba="0.262745 0.282353 0.301961 1.0"/>
      </material>
    </visual>
    <collision>
      <origin rpy="-1.5708 4.34181e-16 -6.8556e-16" xyz="0 0 -0.026"/>
      <geometry>
        <mesh filename="package://wolfgang_description/urdf/mx-106_body.stl"/>
      </geometry>
      <material name="mx-106_body_material">
        <color rgba="0.262745 0.282353 0.301961 1.0"/>
      </material>
    </collision>
    <visual>
      <origin rpy="-3.14159 -3.01408e-17 1.5708" xyz="-0.0145 -0.021 -0.043"/>
      <geometry>
        <mesh filename="package://wolfgang_description/urdf/motor_connector.stl"/>
      </geometry>
      <material name="motor_connector_material">
        <color rgba="0.647059 0.647059 0.647059 1.0"/>
      </material>
    </visual>
    <collision>
      <origin rpy="-3.14159 -3.01408e-17 1.5708" xyz="-0.0145 -0.021 -0.043"/>
      <geometry>
        <mesh filename="package://wolfgang_description/urdf/motor_connector.stl"/>
      </geometry>
      <material name="motor_connector_material">
        <color rgba="0.647059 0.647059 0.647059 1.0"/>
      </material>
    </collision>
    <visual>
      <origin rpy="2.03474e-16 7.21579e-17 -3.14159" xyz="0.014 0.0105 -0.0892"/>
      <geometry>
        <mesh filename="package://wolfgang_description/urdf/thrustbearingholder.stl"/>
      </geometry>
      <material name="thrustbearingholder_material">
        <color rgba="0.792157 0.819608 0.933333 1.0"/>
      </material>
    </visual>
    <collision>
      <origin rpy="2.03474e-16 7.21579e-17 -3.14159" xyz="0.014 0.0105 -0.0892"/>
      <geometry>
        <mesh filename="package://wolfgang_description/urdf/thrustbearingholder.stl"/>
      </geometry>
      <material name="thrustbearingholder_material">
        <color rgba="0.792157 0.819608 0.933333 1.0"/>
      </material>
    </collision>
    <visual>
      <origin rpy="-3.14159 -2.1475e-16 -1.5708" xyz="0.0145 0.007 -0.043"/>
      <geometry>
        <mesh filename="package://wolfgang_description/urdf/motor_connector.stl"/>
      </geometry>
      <material name="motor_connector_material">
        <color rgba="0.647059 0.647059 0.647059 1.0"/>
      </material>
    </visual>
    <collision>
      <origin rpy="-3.14159 -2.1475e-16 -1.5708" xyz="0.0145 0.007 -0.043"/>
      <geometry>
        <mesh filename="package://wolfgang_description/urdf/motor_connector.stl"/>
      </geometry>
      <material name="motor_connector_material">
        <color rgba="0.647059 0.647059 0.647059 1.0"/>
      </material>
    </collision>
    <visual>
      <origin rpy="-1.5708 -1.5708 0" xyz="-4.22579e-15 -4.16334e-17 -0.0691"/>
      <geometry>
        <mesh filename="package://wolfgang_description/urdf/mx-106_body.stl"/>
      </geometry>
      <material name="mx-106_body_material">
        <color rgba="0.262745 0.282353 0.301961 1.0"/>
      </material>
    </visual>
    <collision>
      <origin rpy="-1.5708 -1.5708 0" xyz="-4.22579e-15 -4.16334e-17 -0.0691"/>
      <geometry>
        <mesh filename="package://wolfgang_description/urdf/mx-106_body.stl"/>
      </geometry>
      <material name="mx-106_body_material">
        <color rgba="0.262745 0.282353 0.301961 1.0"/>
      </material>
    </collision>
    <inertial>
      <origin rpy="0 0 0" xyz="1.38724e-05 -0.0155281 -0.0486407"/>
      <mass value="0.319807"/>
      <inertia ixx="0.000268627" ixy="6.08561e-08" ixz="6.67248e-07" iyy="0.000268049" iyz="3.87608e-06" izz="0.000121331"/>
    </inertial>
  </link>
  <link name="r_knee">
    <visual>
      <origin rpy="-1.5708 -0.523599 3.14159" xyz="0.0182355 -0.0226528 -0.130164"/>
      <geometry>
        <mesh filename="package://wolfgang_description/urdf/knee_connector.stl"/>
      </geometry>
      <material name="knee_connector_material">
        <color rgba="0.647059 0.647059 0.647059 1.0"/>
      </material>
    </visual>
    <collision>
      <origin rpy="-1.5708 -0.523599 3.14159" xyz="0.0182355 -0.0226528 -0.130164"/>
      <geometry>
        <mesh filename="package://wolfgang_description/urdf/knee_connector.stl"/>
      </geometry>
      <material name="knee_connector_material">
        <color rgba="0.647059 0.647059 0.647059 1.0"/>
      </material>
    </collision>
    <visual>
      <origin rpy="2.67816e-33 1.87111e-31 -7.84766e-32" xyz="-3.46945e-18 0.002 0"/>
      <geometry>
        <mesh filename="package://wolfgang_description/urdf/upper_leg.stl"/>
      </geometry>
      <material name="upper_leg_material">
        <color rgba="0.647059 0.647059 0.647059 1.0"/>
      </material>
    </visual>
    <collision>
      <origin rpy="2.67816e-33 1.87111e-31 -7.84766e-32" xyz="-3.46945e-18 0.002 0"/>
      <geometry>
        <mesh filename="package://wolfgang_description/urdf/upper_leg.stl"/>
      </geometry>
      <material name="upper_leg_material">
        <color rgba="0.647059 0.647059 0.647059 1.0"/>
      </material>
    </collision>
    <visual>
      <origin rpy="-1.5708 -0.523599 3.14159" xyz="-0.00392295 -0.053 -0.169043"/>
      <geometry>
        <mesh filename="package://wolfgang_description/urdf/part_1.stl"/>
      </geometry>
      <material name="part_1_material">
        <color rgba="0.615686 0.811765 0.929412 1.0"/>
      </material>
    </visual>
    <collision>
      <origin rpy="-1.5708 -0.523599 3.14159" xyz="-0.00392295 -0.053 -0.169043"/>
      <geometry>
        <mesh filename="package://wolfgang_description/urdf/part_1.stl"/>
      </geometry>
      <material name="part_1_material">
        <color rgba="0.615686 0.811765 0.929412 1.0"/>
      </material>
    </collision>
    <visual>
      <origin rpy="-1.5708 -0.523599 3.14159" xyz="-0.00392295 -0.0265 -0.169043"/>
      <geometry>
        <mesh filename="package://wolfgang_description/urdf/xh-540.stl"/>
      </geometry>
      <material name="xh-540_material">
        <color rgba="0.498039 0.498039 0.498039 1.0"/>
      </material>
    </visual>
    <collision>
      <origin rpy="-1.5708 -0.523599 3.14159" xyz="-0.00392295 -0.0265 -0.169043"/>
      <geometry>
        <mesh filename="package://wolfgang_description/urdf/xh-540.stl"/>
      </geometry>
      <material name="xh-540_material">
        <color rgba="0.498039 0.498039 0.498039 1.0"/>
      </material>
    </collision>
    <visual>
      <origin rpy="1.5708 -1.25941e-15 -6.88035e-16" xyz="0.014 -0.055 -0.138"/>
      <geometry>
        <mesh filename="package://wolfgang_description/urdf/spring_holder_upper.stl"/>
      </geometry>
      <material name="spring_holder_upper_material">
        <color rgba="0.647059 0.647059 0.647059 1.0"/>
      </material>
    </visual>
    <collision>
      <origin rpy="1.5708 -1.25941e-15 -6.88035e-16" xyz="0.014 -0.055 -0.138"/>
      <geometry>
        <mesh filename="package://wolfgang_description/urdf/spring_holder_upper.stl"/>
      </geometry>
      <material name="spring_holder_upper_material">
        <color rgba="0.647059 0.647059 0.647059 1.0"/>
      </material>
    </collision>
    <visual>
      <origin rpy="-1.5708 -0.523599 3.14159" xyz="-0.00392295 -0.002 -0.169043"/>
      <geometry>
        <mesh filename="package://wolfgang_description/urdf/part_1.stl"/>
      </geometry>
      <material name="part_1_material">
        <color rgba="0.615686 0.811765 0.929412 1.0"/>
      </material>
    </visual>
    <collision>
      <origin rpy="-1.5708 -0.523599 3.14159" xyz="-0.00392295 -0.002 -0.169043"/>
      <geometry>
        <mesh filename="package://wolfgang_description/urdf/part_1.stl"/>
      </geometry>
      <material name="part_1_material">
        <color rgba="0.615686 0.811765 0.929412 1.0"/>
      </material>
    </collision>
    <visual>
      <origin rpy="8.32667e-17 -8.32667e-17 -7.99057e-16" xyz="3.46945e-17 -0.053 6.93889e-18"/>
      <geometry>
        <mesh filename="package://wolfgang_description/urdf/upper_leg.stl"/>
      </geometry>
      <material name="upper_leg_material">
        <color rgba="0.647059 0.647059 0.647059 1.0"/>
      </material>
    </visual>
    <collision>
      <origin rpy="8.32667e-17 -8.32667e-17 -7.99057e-16" xyz="3.46945e-17 -0.053 6.93889e-18"/>
      <geometry>
        <mesh filename="package://wolfgang_description/urdf/upper_leg.stl"/>
      </geometry>
      <material name="upper_leg_material">
        <color rgba="0.647059 0.647059 0.647059 1.0"/>
      </material>
    </collision>
    <visual>
      <origin rpy="-1.5708 0.523599 -8.15765e-16" xyz="0.0186686 -0.0303472 -0.130414"/>
      <geometry>
        <mesh filename="package://wolfgang_description/urdf/knee_connector.stl"/>
      </geometry>
      <material name="knee_connector_material">
        <color rgba="0.647059 0.647059 0.647059 1.0"/>
      </material>
    </visual>
    <collision>
      <origin rpy="-1.5708 0.523599 -8.15765e-16" xyz="0.0186686 -0.0303472 -0.130414"/>
      <geometry>
        <mesh filename="package://wolfgang_description/urdf/knee_connector.stl"/>
      </geometry>
      <material name="knee_connector_material">
        <color rgba="0.647059 0.647059 0.647059 1.0"/>
      </material>
    </collision>
    <inertial>
      <origin rpy="0 0 0" xyz="0.00466615 -0.0284999 -0.137529"/>
      <mass value="0.220799"/>
      <inertia ixx="0.000445136" ixy="7.62336e-06" ixz="2.06864e-05" iyy="0.000405122" iyz="-2.50431e-06" izz="0.000104011"/>
    </inertial>
  </link>
  <link name="lower_leg_right_1">
    <visual>
      <origin rpy="1.5708 0.0872665 3.72354e-16" xyz="-1.86656e-15 -0.0062 -3.60934e-05"/>
      <geometry>
        <mesh filename="package://wolfgang_description/urdf/torsion_spring_sodemann_t105-180-813r.stl"/>
      </geometry>
      <material name="torsion_spring_sodemann_t105-180-813r_material">
        <color rgba="0.490196 0.490196 0.501961 1.0"/>
      </material>
    </visual>
    <collision>
      <origin rpy="1.5708 0.0872665 3.72354e-16" xyz="-1.86656e-15 -0.0062 -3.60934e-05"/>
      <geometry>
        <mesh filename="package://wolfgang_description/urdf/torsion_spring_sodemann_t105-180-813r.stl"/>
      </geometry>
      <material name="torsion_spring_sodemann_t105-180-813r_material">
        <color rgba="0.490196 0.490196 0.501961 1.0"/>
      </material>
    </collision>
    <visual>
      <origin rpy="-5.54324e-33 2.09645e-17 6.20766e-32" xyz="0.02797 0.017519 -0.15413"/>
      <geometry>
        <mesh filename="package://wolfgang_description/urdf/knee_spacer.stl"/>
      </geometry>
      <material name="knee_spacer_material">
        <color rgba="0.647059 0.647059 0.647059 1.0"/>
      </material>
    </visual>
    <collision>
      <origin rpy="-5.54324e-33 2.09645e-17 6.20766e-32" xyz="0.02797 0.017519 -0.15413"/>
      <geometry>
        <mesh filename="package://wolfgang_description/urdf/knee_spacer.stl"/>
      </geometry>
      <material name="knee_spacer_material">
        <color rgba="0.647059 0.647059 0.647059 1.0"/>
      </material>
    </collision>
    <visual>
      <origin rpy="-2.73358e-17 -4.30156e-17 4.5122e-31" xyz="0.02797 0.068019 -0.15413"/>
      <geometry>
        <mesh filename="package://wolfgang_description/urdf/knee_spacer.stl"/>
      </geometry>
      <material name="knee_spacer_material">
        <color rgba="0.647059 0.647059 0.647059 1.0"/>
      </material>
    </visual>
    <collision>
      <origin rpy="-2.73358e-17 -4.30156e-17 4.5122e-31" xyz="0.02797 0.068019 -0.15413"/>
      <geometry>
        <mesh filename="package://wolfgang_description/urdf/knee_spacer.stl"/>
      </geometry>
      <material name="knee_spacer_material">
        <color rgba="0.647059 0.647059 0.647059 1.0"/>
      </material>
    </collision>
    <visual>
      <origin rpy="-9.91134e-16 -6.88388e-17 -9.66473e-32" xyz="2.57433e-15 0.0525 -0.17"/>
      <geometry>
        <mesh filename="package://wolfgang_description/urdf/lower_leg.stl"/>
      </geometry>
      <material name="lower_leg_material">
        <color rgba="0.960784 0.960784 0.960784 1.0"/>
      </material>
    </visual>
    <collision>
      <origin rpy="-9.91134e-16 -6.88388e-17 -9.66473e-32" xyz="2.57433e-15 0.0525 -0.17"/>
      <geometry>
        <mesh filename="package://wolfgang_description/urdf/lower_leg.stl"/>
      </geometry>
      <material name="lower_leg_material">
        <color rgba="0.960784 0.960784 0.960784 1.0"/>
      </material>
    </collision>
    <visual>
      <origin rpy="-4.58562e-16 1.74099e-15 9.4894e-16" xyz="2.67147e-15 -0.0015 -0.17"/>
      <geometry>
        <mesh filename="package://wolfgang_description/urdf/lower_leg.stl"/>
      </geometry>
      <material name="lower_leg_material">
        <color rgba="0.960784 0.960784 0.960784 1.0"/>
      </material>
    </visual>
    <collision>
      <origin rpy="-4.58562e-16 1.74099e-15 9.4894e-16" xyz="2.67147e-15 -0.0015 -0.17"/>
      <geometry>
        <mesh filename="package://wolfgang_description/urdf/lower_leg.stl"/>
      </geometry>
      <material name="lower_leg_material">
        <color rgba="0.960784 0.960784 0.960784 1.0"/>
      </material>
    </collision>
    <visual>
      <origin rpy="-4.32032e-16 1.82249e-15 9.4894e-16" xyz="4.89192e-15 -0.0035 -0.17"/>
      <geometry>
        <mesh filename="package://wolfgang_description/urdf/springholder_new.stl"/>
      </geometry>
      <material name="springholder_new_material">
        <color rgba="0.717647 0.717647 0.717647 1.0"/>
      </material>
    </visual>
    <collision>
      <origin rpy="-4.32032e-16 1.82249e-15 9.4894e-16" xyz="4.89192e-15 -0.0035 -0.17"/>
      <geometry>
        <mesh filename="package://wolfgang_description/urdf/springholder_new.stl"/>
      </geometry>
      <material name="springholder_new_material">
        <color rgba="0.717647 0.717647 0.717647 1.0"/>
      </material>
    </collision>
    <visual>
      <origin rpy="-3.14159 -0.174533 3.14159" xyz="0.0202407 0.0033 0.0613528"/>
      <geometry>
        <mesh filename="package://wolfgang_description/urdf/spring_holder_lower.stl"/>
      </geometry>
      <material name="spring_holder_lower_material">
        <color rgba="0.717647 0.717647 0.717647 1.0"/>
      </material>
    </visual>
    <collision>
      <origin rpy="-3.14159 -0.174533 3.14159" xyz="0.0202407 0.0033 0.0613528"/>
      <geometry>
        <mesh filename="package://wolfgang_description/urdf/spring_holder_lower.stl"/>
      </geometry>
      <material name="spring_holder_lower_material">
        <color rgba="0.717647 0.717647 0.717647 1.0"/>
      </material>
    </collision>
    <visual>
      <origin rpy="-4.33564e-16 1.82249e-15 9.4894e-16" xyz="1.8735e-16 -0.0035 -8.04912e-16"/>
      <geometry>
        <mesh filename="package://wolfgang_description/urdf/springholder_bottom.stl"/>
      </geometry>
      <material name="springholder_bottom_material">
        <color rgba="0.717647 0.717647 0.717647 1.0"/>
      </material>
    </visual>
    <collision>
      <origin rpy="-4.33564e-16 1.82249e-15 9.4894e-16" xyz="1.8735e-16 -0.0035 -8.04912e-16"/>
      <geometry>
        <mesh filename="package://wolfgang_description/urdf/springholder_bottom.stl"/>
      </geometry>
      <material name="springholder_bottom_material">
        <color rgba="0.717647 0.717647 0.717647 1.0"/>
      </material>
    </collision>
    <inertial>
      <origin rpy="0 0 0" xyz="0.00131527 0.00765262 -0.0457782"/>
      <mass value="0.0842452"/>
      <inertia ixx="0.000356238" ixy="1.78249e-06" ixz="-1.06939e-05" iyy="0.00030159" iyz="5.93058e-05" izz="7.37898e-05"/>
    </inertial>
  </link>
  <link name="left_hip_right_ankle_1">
    <visual>
      <origin rpy="1.5708 6.96724e-15 1.5708" xyz="-0.0261 -0.021 -0.0405"/>
      <geometry>
        <mesh filename="package://wolfgang_description/urdf/motor_connector.stl"/>
      </geometry>
      <material name="motor_connector_material">
        <color rgba="0.647059 0.647059 0.647059 1.0"/>
      </material>
    </visual>
    <collision>
      <origin rpy="1.5708 6.96724e-15 1.5708" xyz="-0.0261 -0.021 -0.0405"/>
      <geometry>
        <mesh filename="package://wolfgang_description/urdf/motor_connector.stl"/>
      </geometry>
      <material name="motor_connector_material">
        <color rgba="0.647059 0.647059 0.647059 1.0"/>
      </material>
    </collision>
    <visual>
      <origin rpy="-1.5708 -1.5708 0" xyz="-0.0431 1.11022e-16 -0.026"/>
      <geometry>
        <mesh filename="package://wolfgang_description/urdf/mx-106_body.stl"/>
      </geometry>
      <material name="mx-106_body_material">
        <color rgba="0.262745 0.282353 0.301961 1.0"/>
      </material>
    </visual>
    <collision>
      <origin rpy="-1.5708 -1.5708 0" xyz="-0.0431 1.11022e-16 -0.026"/>
      <geometry>
        <mesh filename="package://wolfgang_description/urdf/mx-106_body.stl"/>
      </geometry>
      <material name="mx-106_body_material">
        <color rgba="0.262745 0.282353 0.301961 1.0"/>
      </material>
    </collision>
    <visual>
      <origin rpy="-1.5708 -6.16753e-15 -1.5708" xyz="-0.0261 0.007 -0.0115"/>
      <geometry>
        <mesh filename="package://wolfgang_description/urdf/motor_connector.stl"/>
      </geometry>
      <material name="motor_connector_material">
        <color rgba="0.647059 0.647059 0.647059 1.0"/>
      </material>
    </visual>
    <collision>
      <origin rpy="-1.5708 -6.16753e-15 -1.5708" xyz="-0.0261 0.007 -0.0115"/>
      <geometry>
        <mesh filename="package://wolfgang_description/urdf/motor_connector.stl"/>
      </geometry>
      <material name="motor_connector_material">
        <color rgba="0.647059 0.647059 0.647059 1.0"/>
      </material>
    </collision>
    <visual>
      <origin rpy="-3.14159 1.5708 0" xyz="0.0201 0.0105 -0.0109"/>
      <geometry>
        <mesh filename="package://wolfgang_description/urdf/thrustbearingholder.stl"/>
      </geometry>
      <material name="thrustbearingholder_material">
        <color rgba="0.792157 0.819608 0.933333 1.0"/>
      </material>
    </visual>
    <collision>
      <origin rpy="-3.14159 1.5708 0" xyz="0.0201 0.0105 -0.0109"/>
      <geometry>
        <mesh filename="package://wolfgang_description/urdf/thrustbearingholder.stl"/>
      </geometry>
      <material name="thrustbearingholder_material">
        <color rgba="0.792157 0.819608 0.933333 1.0"/>
      </material>
    </collision>
    <visual>
      <origin rpy="-1.5708 5.31362e-31 -2.86392e-18" xyz="-9.71445e-17 5.55112e-17 -0.026"/>
      <geometry>
        <mesh filename="package://wolfgang_description/urdf/mx-106_body.stl"/>
      </geometry>
      <material name="mx-106_body_material">
        <color rgba="0.262745 0.282353 0.301961 1.0"/>
      </material>
    </visual>
    <collision>
      <origin rpy="-1.5708 5.31362e-31 -2.86392e-18" xyz="-9.71445e-17 5.55112e-17 -0.026"/>
      <geometry>
        <mesh filename="package://wolfgang_description/urdf/mx-106_body.stl"/>
      </geometry>
      <material name="mx-106_body_material">
        <color rgba="0.262745 0.282353 0.301961 1.0"/>
      </material>
    </collision>
    <inertial>
      <origin rpy="0 0 0" xyz="-0.0204557 -0.0155281 -0.0260036"/>
      <mass value="0.319807"/>
      <inertia ixx="0.000116775" ixy="-4.53798e-06" ixz="6.10986e-07" iyy="0.000268473" iyz="-7.45081e-07" izz="0.000272856"/>
    </inertial>
  </link>
  <link name="r_foot">
    <visual>
      <origin rpy="-1.63098e-15 2.20568e-16 3.73798e-18" xyz="-0.029996 0.00604936 -0.03425"/>
      <geometry>
        <mesh filename="package://wolfgang_description/urdf/load_cell.stl"/>
      </geometry>
      <material name="load_cell_material">
        <color rgba="0.717647 0.717647 0.717647 1.0"/>
      </material>
    </visual>
    <collision>
      <origin rpy="-1.63098e-15 2.20568e-16 3.73798e-18" xyz="-0.029996 0.00604936 -0.03425"/>
      <geometry>
        <mesh filename="package://wolfgang_description/urdf/load_cell.stl"/>
      </geometry>
      <material name="load_cell_material">
        <color rgba="0.717647 0.717647 0.717647 1.0"/>
      </material>
    </collision>
    <visual>
      <origin rpy="-1.10438e-17 1.37914e-31 1.20468e-31" xyz="0 0.046 -0.036"/>
      <geometry>
        <mesh filename="package://wolfgang_description/urdf/ankle.stl"/>
      </geometry>
      <material name="ankle_material">
        <color rgba="0.717647 0.717647 0.717647 1.0"/>
      </material>
    </visual>
    <collision>
      <origin rpy="-1.10438e-17 1.37914e-31 1.20468e-31" xyz="0 0.046 -0.036"/>
      <geometry>
        <mesh filename="package://wolfgang_description/urdf/ankle.stl"/>
      </geometry>
      <material name="ankle_material">
        <color rgba="0.717647 0.717647 0.717647 1.0"/>
      </material>
    </collision>
    <visual>
      <origin rpy="7.87577e-16 -8.55971e-17 1.39379e-17" xyz="0.06 0.1635 -0.03425"/>
      <geometry>
        <mesh filename="package://wolfgang_description/urdf/load_cell.stl"/>
      </geometry>
      <material name="load_cell_material">
        <color rgba="0.717647 0.717647 0.717647 1.0"/>
      </material>
    </visual>
    <collision>
      <origin rpy="7.87577e-16 -8.55971e-17 1.39379e-17" xyz="0.06 0.1635 -0.03425"/>
      <geometry>
        <mesh filename="package://wolfgang_description/urdf/load_cell.stl"/>
      </geometry>
      <material name="load_cell_material">
        <color rgba="0.717647 0.717647 0.717647 1.0"/>
      </material>
    </collision>
    <visual>
      <origin rpy="-3.14159 1.29252e-15 -5.35434e-17" xyz="0.037 0.16 -0.0324"/>
      <geometry>
        <mesh filename="package://wolfgang_description/urdf/forcefoot_pcb.stl"/>
      </geometry>
      <material name="forcefoot_pcb_material">
        <color rgba="0.141176 0.52549 0.141176 1.0"/>
      </material>
    </visual>
    <collision>
      <origin rpy="-3.14159 1.29252e-15 -5.35434e-17" xyz="0.037 0.16 -0.0324"/>
      <geometry>
        <mesh filename="package://wolfgang_description/urdf/forcefoot_pcb.stl"/>
      </geometry>
      <material name="forcefoot_pcb_material">
        <color rgba="0.141176 0.52549 0.141176 1.0"/>
      </material>
    </collision>
    <visual>
      <origin rpy="1.53365e-15 1.29252e-15 -5.35434e-17" xyz="-0.03 0.1635 -0.03425"/>
      <geometry>
        <mesh filename="package://wolfgang_description/urdf/load_cell.stl"/>
      </geometry>
      <material name="load_cell_material">
        <color rgba="0.717647 0.717647 0.717647 1.0"/>
      </material>
    </visual>
    <collision>
      <origin rpy="1.53365e-15 1.29252e-15 -5.35434e-17" xyz="-0.03 0.1635 -0.03425"/>
      <geometry>
        <mesh filename="package://wolfgang_description/urdf/load_cell.stl"/>
      </geometry>
      <material name="load_cell_material">
        <color rgba="0.717647 0.717647 0.717647 1.0"/>
      </material>
    </collision>
    <visual>
      <origin rpy="1.36337e-17 2.2372e-15 -1.5708" xyz="0.06 -0.007 -0.04425"/>
      <geometry>
        <mesh filename="package://wolfgang_description/urdf/flex_stollen.stl"/>
      </geometry>
      <material name="flex_stollen_material">
        <color rgba="0.615686 0.811765 0.929412 1.0"/>
      </material>
    </visual>
    <collision>
      <origin rpy="1.36337e-17 2.2372e-15 -1.5708" xyz="0.06 -0.007 -0.04425"/>
      <geometry>
        <mesh filename="package://wolfgang_description/urdf/flex_stollen.stl"/>
      </geometry>
      <material name="flex_stollen_material">
        <color rgba="0.615686 0.811765 0.929412 1.0"/>
      </material>
    </collision>
    <visual>
      <origin rpy="-3.33669e-15 -3.23e-14 -1.5708" xyz="-0.145 0.085 -0.0395"/>
      <geometry>
        <mesh filename="package://wolfgang_description/urdf/foot_printed_right.stl"/>
      </geometry>
      <material name="foot_printed_right_material">
        <color rgba="0.717647 0.717647 0.717647 1.0"/>
      </material>
    </visual>
    <collision>
      <origin rpy="-3.33669e-15 -3.23e-14 -1.5708" xyz="-0.145 0.085 -0.0395"/>
      <geometry>
        <mesh filename="package://wolfgang_description/urdf/foot_printed_right.stl"/>
      </geometry>
      <material name="foot_printed_right_material">
        <color rgba="0.717647 0.717647 0.717647 1.0"/>
      </material>
    </collision>
    <visual>
      <origin rpy="-5.44998e-14 -2.30577e-15 3.14159" xyz="0.06 0.0065 -0.03425"/>
      <geometry>
        <mesh filename="package://wolfgang_description/urdf/load_cell.stl"/>
      </geometry>
      <material name="load_cell_material">
        <color rgba="0.717647 0.717647 0.717647 1.0"/>
      </material>
    </visual>
    <collision>
      <origin rpy="-5.44998e-14 -2.30577e-15 3.14159" xyz="0.06 0.0065 -0.03425"/>
      <geometry>
        <mesh filename="package://wolfgang_description/urdf/load_cell.stl"/>
      </geometry>
      <material name="load_cell_material">
        <color rgba="0.717647 0.717647 0.717647 1.0"/>
      </material>
    </collision>
    <visual>
      <origin rpy="1.40088e-15 -3.40328e-16 -1.5708" xyz="-0.03 0.177 -0.04425"/>
      <geometry>
        <mesh filename="package://wolfgang_description/urdf/flex_stollen.stl"/>
      </geometry>
      <material name="flex_stollen_material">
        <color rgba="0.615686 0.811765 0.929412 1.0"/>
      </material>
    </visual>
    <collision>
      <origin rpy="1.40088e-15 -3.40328e-16 -1.5708" xyz="-0.03 0.177 -0.04425"/>
      <geometry>
        <mesh filename="package://wolfgang_description/urdf/flex_stollen.stl"/>
      </geometry>
      <material name="flex_stollen_material">
        <color rgba="0.615686 0.811765 0.929412 1.0"/>
      </material>
    </collision>
    <visual>
      <origin rpy="-9.77723e-17 -1.1503e-15 -1.5708" xyz="-0.029996 -0.00745064 -0.04425"/>
      <geometry>
        <mesh filename="package://wolfgang_description/urdf/flex_stollen.stl"/>
      </geometry>
      <material name="flex_stollen_material">
        <color rgba="0.615686 0.811765 0.929412 1.0"/>
      </material>
    </visual>
    <collision>
      <origin rpy="-9.77723e-17 -1.1503e-15 -1.5708" xyz="-0.029996 -0.00745064 -0.04425"/>
      <geometry>
        <mesh filename="package://wolfgang_description/urdf/flex_stollen.stl"/>
      </geometry>
      <material name="flex_stollen_material">
        <color rgba="0.615686 0.811765 0.929412 1.0"/>
      </material>
    </collision>
    <visual>
      <origin rpy="3.06655e-16 4.65859e-16 -1.5708" xyz="0.06 0.177 -0.04425"/>
      <geometry>
        <mesh filename="package://wolfgang_description/urdf/flex_stollen.stl"/>
      </geometry>
      <material name="flex_stollen_material">
        <color rgba="0.615686 0.811765 0.929412 1.0"/>
      </material>
    </visual>
    <collision>
      <origin rpy="3.06655e-16 4.65859e-16 -1.5708" xyz="0.06 0.177 -0.04425"/>
      <geometry>
        <mesh filename="package://wolfgang_description/urdf/flex_stollen.stl"/>
      </geometry>
      <material name="flex_stollen_material">
        <color rgba="0.615686 0.811765 0.929412 1.0"/>
      </material>
    </collision>
    <visual>
      <origin rpy="-1.05977e-17 2.47597e-16 -1.5708" xyz="0.0234568 0.0618337 -0.0463905"/>
      <geometry>
        <mesh filename="package://wolfgang_description/urdf/foot_cover.stl"/>
      </geometry>
      <material name="foot_cover_material">
        <color rgba="0.647059 0.647059 0.647059 1.0"/>
      </material>
    </visual>
    <collision>
      <origin rpy="-1.05977e-17 2.47597e-16 -1.5708" xyz="0.0234568 0.0618337 -0.0463905"/>
      <geometry>
        <mesh filename="package://wolfgang_description/urdf/foot_cover.stl"/>
      </geometry>
      <material name="foot_cover_material">
        <color rgba="0.647059 0.647059 0.647059 1.0"/>
      </material>
    </collision>
    <inertial>
      <origin rpy="0 0 0" xyz="0.0121001 0.0914942 -0.029994"/>
      <mass value="0.281772"/>
      <inertia ixx="0.000952692" ixy="-3.29806e-05" ixz="5.20707e-06" iyy="0.000344273" iyz="-1.94309e-05" izz="0.00124519"/>
    </inertial>
  </link>
  <link name="r_sole">
    <inertial>
      <origin rpy="0 0 0" xyz="0 0 0"/>
      <mass value="1e-9"/>
      <inertia ixx="0" ixy="0" ixz="0" iyy="0" iyz="0" izz="0"/>
    </inertial>
  </link>
  <joint name="r_sole_frame" type="fixed">
    <origin rpy="3.33669e-15 3.2321e-14 1.5708" xyz="0.0152261 0.0907683 -0.0529"/>
    <parent link="r_foot"/>
    <child link="r_sole"/>
    <axis xyz="0 0 0"/>
  </joint>
  <link name="r_cleat_r_front">
    <inertial>
      <origin rpy="0 0 0" xyz="0 0 0"/>
      <mass value="1e-9"/>
      <inertia ixx="0" ixy="0" ixz="0" iyy="0" iyz="0" izz="0"/>
    </inertial>
  </link>
  <joint name="r_cleat_r_front_frame" type="fixed">
    <origin rpy="-1.69008e-16 -4.62076e-16 1.5708" xyz="0.0595 0.177 -0.05025"/>
    <parent link="r_foot"/>
    <child link="r_cleat_r_front"/>
    <axis xyz="0 0 0"/>
  </joint>
  <link name="r_cleat_l_front">
    <inertial>
      <origin rpy="0 0 0" xyz="0 0 0"/>
      <mass value="1e-9"/>
      <inertia ixx="0" ixy="0" ixz="0" iyy="0" iyz="0" izz="0"/>
    </inertial>
  </link>
  <joint name="r_cleat_l_front_frame" type="fixed">
    <origin rpy="-1.09592e-15 3.40328e-16 1.5708" xyz="-0.0305 0.177 -0.05025"/>
    <parent link="r_foot"/>
    <child link="r_cleat_l_front"/>
    <axis xyz="0 0 0"/>
  </joint>
  <link name="r_cleat_r_back">
    <inertial>
      <origin rpy="0 0 0" xyz="0 0 0"/>
      <mass value="1e-9"/>
      <inertia ixx="0" ixy="0" ixz="0" iyy="0" iyz="0" izz="0"/>
    </inertial>
  </link>
  <joint name="r_cleat_r_back_frame" type="fixed">
    <origin rpy="7.71897e-16 -3.20424e-15 1.5708" xyz="0.0595 -0.007 -0.05025"/>
    <parent link="r_foot"/>
    <child link="r_cleat_r_back"/>
    <axis xyz="0 0 0"/>
  </joint>
  <link name="r_cleat_l_back">
    <inertial>
      <origin rpy="0 0 0" xyz="0 0 0"/>
      <mass value="1e-9"/>
      <inertia ixx="0" ixy="0" ixz="0" iyy="0" iyz="0" izz="0"/>
    </inertial>
  </link>
  <joint name="r_cleat_l_back_frame" type="fixed">
    <origin rpy="3.02062e-16 1.14651e-15 1.5708" xyz="-0.030496 -0.00745064 -0.05025"/>
    <parent link="r_foot"/>
    <child link="r_cleat_l_back"/>
    <axis xyz="0 0 0"/>
  </joint>
  <joint name="RAnkleRoll" type="revolute">
    <origin rpy="1.5708 1.5708 0" xyz="-0.0691 5.55112e-17 -0.026"/>
    <parent link="left_hip_right_ankle_1"/>
    <child link="r_foot"/>
    <axis xyz="0 -1 0"/>
    <limit effort="7.57" lower="-1.0472" upper="1.0472" velocity="8.22"/>
    <joint_properties friction="0.0"/>
  </joint>
  <joint name="RAnklePitch" type="revolute">
    <origin rpy="-1.5708 -1.93533e-15 -2.52888e-15" xyz="2.69229e-15 0.0505 -0.17"/>
    <parent link="lower_leg_right_1"/>
    <child link="left_hip_right_ankle_1"/>
    <axis xyz="-0 -0 -1"/>
    <limit effort="7.57" lower="-1.22173" upper="1.5708" velocity="8.22"/>
    <joint_properties friction="0.0"/>
  </joint>
  <joint name="RKnee" type="revolute">
    <origin rpy="1.50246e-15 -0.261799 -1.61204e-15" xyz="-0.00392295 -0.051 -0.169043"/>
    <parent link="r_knee"/>
    <child link="lower_leg_right_1"/>
    <axis xyz="0 1 0"/>
    <limit effort="10" lower="0" upper="2.96706" velocity="10"/>
    <joint_properties friction="0.0"/>
  </joint>
  <joint name="RHipPitch" type="revolute">
    <origin rpy="-1.5708 1.5708 0" xyz="-0.0265 -2.77556e-17 -0.0691"/>
    <parent link="right_hip_left_ankle_1"/>
    <child link="r_knee"/>
    <axis xyz="-0 1 -0"/>
    <limit effort="7.57" lower="-1.5708" upper="1.5708" velocity="8.22"/>
    <joint_properties friction="0.0"/>
  </joint>
  <joint name="RHipRoll" type="revolute">
    <origin rpy="-3.14159 1.5708 0" xyz="-0.046 0.0414 5.34295e-16"/>
    <parent link="hip_u_connector_1"/>
    <child link="right_hip_left_ankle_1"/>
    <axis xyz="-0 -0 -1"/>
    <limit effort="7.57" lower="-1.5708" upper="1.5708" velocity="8.22"/>
    <joint_properties friction="0.0"/>
  </joint>
  <joint name="RHipYaw" type="revolute">
    <origin rpy="-1.5708 -0 0" xyz="-1.38778e-17 -0.055 -9.75782e-19"/>
    <parent link="torso"/>
    <child link="hip_u_connector_1"/>
    <axis xyz="0 -1 0"/>
    <limit effort="7.57" lower="-1.5708" upper="1.5708" velocity="8.22"/>
    <joint_properties friction="0.0"/>
  </joint>
  <link name="hip_u_connector_2">
    <visual>
      <origin rpy="0 -0 0" xyz="0 -0.0006 -0.018"/>
      <geometry>
        <mesh filename="package://wolfgang_description/urdf/hip_u_connector.stl"/>
      </geometry>
      <material name="hip_u_connector_material">
        <color rgba="0.647059 0.647059 0.647059 1.0"/>
      </material>
    </visual>
    <collision>
      <origin rpy="0 -0 0" xyz="0 -0.0006 -0.018"/>
      <geometry>
        <mesh filename="package://wolfgang_description/urdf/hip_u_connector.stl"/>
      </geometry>
      <material name="hip_u_connector_material">
        <color rgba="0.647059 0.647059 0.647059 1.0"/>
      </material>
    </collision>
    <inertial>
      <origin rpy="0 0 0" xyz="1.20984e-11 0.010315 -1.06799e-07"/>
      <mass value="0.0689735"/>
      <inertia ixx="2.18955e-05" ixy="-2.44475e-14" ixz="3.06793e-15" iyy="0.00010714" iyz="-6.56688e-11" izz="0.000110523"/>
    </inertial>
  </link>
  <link name="left_hip_right_ankle_2">
    <visual>
      <origin rpy="-3.14159 1.52095e-16 -1.5708" xyz="0.0145 0.007 -0.043"/>
      <geometry>
        <mesh filename="package://wolfgang_description/urdf/motor_connector.stl"/>
      </geometry>
      <material name="motor_connector_material">
        <color rgba="0.647059 0.647059 0.647059 1.0"/>
      </material>
    </visual>
    <collision>
      <origin rpy="-3.14159 1.52095e-16 -1.5708" xyz="0.0145 0.007 -0.043"/>
      <geometry>
        <mesh filename="package://wolfgang_description/urdf/motor_connector.stl"/>
      </geometry>
      <material name="motor_connector_material">
        <color rgba="0.647059 0.647059 0.647059 1.0"/>
      </material>
    </collision>
    <visual>
      <origin rpy="-1.5708 -1.96517e-16 7.99616e-16" xyz="6.93889e-18 0 -0.026"/>
      <geometry>
        <mesh filename="package://wolfgang_description/urdf/mx-106_body.stl"/>
      </geometry>
      <material name="mx-106_body_material">
        <color rgba="0.262745 0.282353 0.301961 1.0"/>
      </material>
    </visual>
    <collision>
      <origin rpy="-1.5708 -1.96517e-16 7.99616e-16" xyz="6.93889e-18 0 -0.026"/>
      <geometry>
        <mesh filename="package://wolfgang_description/urdf/mx-106_body.stl"/>
      </geometry>
      <material name="mx-106_body_material">
        <color rgba="0.262745 0.282353 0.301961 1.0"/>
      </material>
    </collision>
    <visual>
      <origin rpy="-1.5708 1.5708 0" xyz="2.08167e-17 -6.93889e-18 -0.0691"/>
      <geometry>
        <mesh filename="package://wolfgang_description/urdf/mx-106_body.stl"/>
      </geometry>
      <material name="mx-106_body_material">
        <color rgba="0.262745 0.282353 0.301961 1.0"/>
      </material>
    </visual>
    <collision>
      <origin rpy="-1.5708 1.5708 0" xyz="2.08167e-17 -6.93889e-18 -0.0691"/>
      <geometry>
        <mesh filename="package://wolfgang_description/urdf/mx-106_body.stl"/>
      </geometry>
      <material name="mx-106_body_material">
        <color rgba="0.262745 0.282353 0.301961 1.0"/>
      </material>
    </collision>
    <visual>
      <origin rpy="3.14159 -1.57669e-16 1.5708" xyz="-0.0145 -0.021 -0.043"/>
      <geometry>
        <mesh filename="package://wolfgang_description/urdf/motor_connector.stl"/>
      </geometry>
      <material name="motor_connector_material">
        <color rgba="0.647059 0.647059 0.647059 1.0"/>
      </material>
    </visual>
    <collision>
      <origin rpy="3.14159 -1.57669e-16 1.5708" xyz="-0.0145 -0.021 -0.043"/>
      <geometry>
        <mesh filename="package://wolfgang_description/urdf/motor_connector.stl"/>
      </geometry>
      <material name="motor_connector_material">
        <color rgba="0.647059 0.647059 0.647059 1.0"/>
      </material>
    </collision>
    <visual>
      <origin rpy="-1.52095e-16 2.65906e-16 -3.14159" xyz="0.0151 0.0105 -0.0892"/>
      <geometry>
        <mesh filename="package://wolfgang_description/urdf/thrustbearingholder.stl"/>
      </geometry>
      <material name="thrustbearingholder_material">
        <color rgba="0.792157 0.819608 0.933333 1.0"/>
      </material>
    </visual>
    <collision>
      <origin rpy="-1.52095e-16 2.65906e-16 -3.14159" xyz="0.0151 0.0105 -0.0892"/>
      <geometry>
        <mesh filename="package://wolfgang_description/urdf/thrustbearingholder.stl"/>
      </geometry>
      <material name="thrustbearingholder_material">
        <color rgba="0.792157 0.819608 0.933333 1.0"/>
      </material>
    </collision>
    <inertial>
      <origin rpy="0 0 0" xyz="-3.60783e-06 -0.0155281 -0.0486443"/>
      <mass value="0.319807"/>
      <inertia ixx="0.000268673" ixy="-7.40992e-08" ixz="-6.18751e-07" iyy="0.000268098" iyz="3.88325e-06" izz="0.000121333"/>
    </inertial>
  </link>
  <link name="l_knee">
    <visual>
      <origin rpy="3.14159 6.1423e-17 0.523599" xyz="-0.0182355 -0.130164 0.0283472"/>
      <geometry>
        <mesh filename="package://wolfgang_description/urdf/knee_connector.stl"/>
      </geometry>
      <material name="knee_connector_material">
        <color rgba="0.647059 0.647059 0.647059 1.0"/>
      </material>
    </visual>
    <collision>
      <origin rpy="3.14159 6.1423e-17 0.523599" xyz="-0.0182355 -0.130164 0.0283472"/>
      <geometry>
        <mesh filename="package://wolfgang_description/urdf/knee_connector.stl"/>
      </geometry>
      <material name="knee_connector_material">
        <color rgba="0.647059 0.647059 0.647059 1.0"/>
      </material>
    </collision>
    <visual>
      <origin rpy="-3.14159 -5.23638e-16 -9.5356e-16" xyz="-0.0811244 -0.148357 0.049"/>
      <geometry>
        <mesh filename="package://wolfgang_description/urdf/part_1.stl"/>
      </geometry>
      <material name="part_1_material">
        <color rgba="0.615686 0.811765 0.929412 1.0"/>
      </material>
    </visual>
    <collision>
      <origin rpy="-3.14159 -5.23638e-16 -9.5356e-16" xyz="-0.0811244 -0.148357 0.049"/>
      <geometry>
        <mesh filename="package://wolfgang_description/urdf/part_1.stl"/>
      </geometry>
      <material name="part_1_material">
        <color rgba="0.615686 0.811765 0.929412 1.0"/>
      </material>
    </collision>
    <visual>
      <origin rpy="1.28647e-15 9.85727e-17 -2.61799" xyz="-0.0178025 -0.129914 0.0206528"/>
      <geometry>
        <mesh filename="package://wolfgang_description/urdf/knee_connector.stl"/>
      </geometry>
      <material name="knee_connector_material">
        <color rgba="0.647059 0.647059 0.647059 1.0"/>
      </material>
    </visual>
    <collision>
      <origin rpy="1.28647e-15 9.85727e-17 -2.61799" xyz="-0.0178025 -0.129914 0.0206528"/>
      <geometry>
        <mesh filename="package://wolfgang_description/urdf/knee_connector.stl"/>
      </geometry>
      <material name="knee_connector_material">
        <color rgba="0.647059 0.647059 0.647059 1.0"/>
      </material>
    </collision>
    <visual>
      <origin rpy="5.2714e-16 -4.13578e-16 -2.61799" xyz="0.00435596 -0.168793 0.0245"/>
      <geometry>
        <mesh filename="package://wolfgang_description/urdf/xh-540.stl"/>
      </geometry>
      <material name="xh-540_material">
        <color rgba="0.498039 0.498039 0.498039 1.0"/>
      </material>
    </visual>
    <collision>
      <origin rpy="5.2714e-16 -4.13578e-16 -2.61799" xyz="0.00435596 -0.168793 0.0245"/>
      <geometry>
        <mesh filename="package://wolfgang_description/urdf/xh-540.stl"/>
      </geometry>
      <material name="xh-540_material">
        <color rgba="0.498039 0.498039 0.498039 1.0"/>
      </material>
    </collision>
    <visual>
      <origin rpy="-9.82513e-16 6.31125e-16 2.61799" xyz="-0.014 -0.138 0.053"/>
      <geometry>
        <mesh filename="package://wolfgang_description/urdf/spring_holder_upper.stl"/>
      </geometry>
      <material name="spring_holder_upper_material">
        <color rgba="0.647059 0.647059 0.647059 1.0"/>
      </material>
    </visual>
    <collision>
      <origin rpy="-9.82513e-16 6.31125e-16 2.61799" xyz="-0.014 -0.138 0.053"/>
      <geometry>
        <mesh filename="package://wolfgang_description/urdf/spring_holder_upper.stl"/>
      </geometry>
      <material name="spring_holder_upper_material">
        <color rgba="0.647059 0.647059 0.647059 1.0"/>
      </material>
    </collision>
    <visual>
      <origin rpy="0 -9.66999e-33 0" xyz="-0.0811244 0.148357 -2.00465e-14"/>
      <geometry>
        <mesh filename="package://wolfgang_description/urdf/part_1.stl"/>
      </geometry>
      <material name="part_1_material">
        <color rgba="0.615686 0.811765 0.929412 1.0"/>
      </material>
    </visual>
    <collision>
      <origin rpy="0 -9.66999e-33 0" xyz="-0.0811244 0.148357 -2.00465e-14"/>
      <geometry>
        <mesh filename="package://wolfgang_description/urdf/part_1.stl"/>
      </geometry>
      <material name="part_1_material">
        <color rgba="0.615686 0.811765 0.929412 1.0"/>
      </material>
    </collision>
    <visual>
      <origin rpy="1.5708 -2.22045e-16 -3.14159" xyz="0 0 -0.002"/>
      <geometry>
        <mesh filename="package://wolfgang_description/urdf/upper_leg.stl"/>
      </geometry>
      <material name="upper_leg_material">
        <color rgba="0.647059 0.647059 0.647059 1.0"/>
      </material>
    </visual>
    <collision>
      <origin rpy="1.5708 -2.22045e-16 -3.14159" xyz="0 0 -0.002"/>
      <geometry>
        <mesh filename="package://wolfgang_description/urdf/upper_leg.stl"/>
      </geometry>
      <material name="upper_leg_material">
        <color rgba="0.647059 0.647059 0.647059 1.0"/>
      </material>
    </collision>
    <visual>
      <origin rpy="1.5708 3.88578e-16 3.14159" xyz="1.73472e-17 6.93889e-18 0.053"/>
      <geometry>
        <mesh filename="package://wolfgang_description/urdf/upper_leg.stl"/>
      </geometry>
      <material name="upper_leg_material">
        <color rgba="0.647059 0.647059 0.647059 1.0"/>
      </material>
    </visual>
    <collision>
      <origin rpy="1.5708 3.88578e-16 3.14159" xyz="1.73472e-17 6.93889e-18 0.053"/>
      <geometry>
        <mesh filename="package://wolfgang_description/urdf/upper_leg.stl"/>
      </geometry>
      <material name="upper_leg_material">
        <color rgba="0.647059 0.647059 0.647059 1.0"/>
      </material>
    </collision>
    <inertial>
      <origin rpy="0 0 0" xyz="-0.00432766 -0.137334 0.0264999"/>
      <mass value="0.220799"/>
      <inertia ixx="0.000439144" ixy="-3.21416e-05" ixz="2.66786e-06" iyy="0.000110922" iyz="2.40516e-06" izz="0.000401348"/>
    </inertial>
  </link>
  <link name="lower_leg_left_1">
    <visual>
      <origin rpy="3.14159 -2.52611e-17 -2.06283e-15" xyz="2.04003e-15 0.0035 0.17"/>
      <geometry>
        <mesh filename="package://wolfgang_description/urdf/springholder_new.stl"/>
      </geometry>
      <material name="springholder_new_material">
        <color rgba="0.717647 0.717647 0.717647 1.0"/>
      </material>
    </visual>
    <collision>
      <origin rpy="3.14159 -2.52611e-17 -2.06283e-15" xyz="2.04003e-15 0.0035 0.17"/>
      <geometry>
        <mesh filename="package://wolfgang_description/urdf/springholder_new.stl"/>
      </geometry>
      <material name="springholder_new_material">
        <color rgba="0.717647 0.717647 0.717647 1.0"/>
      </material>
    </collision>
    <visual>
      <origin rpy="3.39734e-17 8.69256e-14 -3.14159" xyz="0.00217889 -0.0033 -0.145095"/>
      <geometry>
        <mesh filename="package://wolfgang_description/urdf/spring_holder_lower.stl"/>
      </geometry>
      <material name="spring_holder_lower_material">
        <color rgba="0.717647 0.717647 0.717647 1.0"/>
      </material>
    </visual>
    <collision>
      <origin rpy="3.39734e-17 8.69256e-14 -3.14159" xyz="0.00217889 -0.0033 -0.145095"/>
      <geometry>
        <mesh filename="package://wolfgang_description/urdf/spring_holder_lower.stl"/>
      </geometry>
      <material name="spring_holder_lower_material">
        <color rgba="0.717647 0.717647 0.717647 1.0"/>
      </material>
    </collision>
    <visual>
      <origin rpy="3.14159 -8.64467e-17 -4.26392e-30" xyz="2.22045e-16 0.0035 -3.60822e-16"/>
      <geometry>
        <mesh filename="package://wolfgang_description/urdf/springholder_bottom.stl"/>
      </geometry>
      <material name="springholder_bottom_material">
        <color rgba="0.717647 0.717647 0.717647 1.0"/>
      </material>
    </visual>
    <collision>
      <origin rpy="3.14159 -8.64467e-17 -4.26392e-30" xyz="2.22045e-16 0.0035 -3.60822e-16"/>
      <geometry>
        <mesh filename="package://wolfgang_description/urdf/springholder_bottom.stl"/>
      </geometry>
      <material name="springholder_bottom_material">
        <color rgba="0.717647 0.717647 0.717647 1.0"/>
      </material>
    </collision>
    <visual>
      <origin rpy="-1.5708 0.0872665 -2.54457e-15" xyz="2.28983e-16 0.0062 -3.60822e-16"/>
      <geometry>
        <mesh filename="package://wolfgang_description/urdf/torson_spring_sodemann_t105-180-813l.stl"/>
      </geometry>
      <material name="torson_spring_sodemann_t105-180-813l_material">
        <color rgba="0.490196 0.490196 0.501961 1.0"/>
      </material>
    </visual>
    <collision>
      <origin rpy="-1.5708 0.0872665 -2.54457e-15" xyz="2.28983e-16 0.0062 -3.60822e-16"/>
      <geometry>
        <mesh filename="package://wolfgang_description/urdf/torson_spring_sodemann_t105-180-813l.stl"/>
      </geometry>
      <material name="torson_spring_sodemann_t105-180-813l_material">
        <color rgba="0.490196 0.490196 0.501961 1.0"/>
      </material>
    </collision>
    <visual>
      <origin rpy="-8.11627e-32 -5.23998e-17 1.25521e-31" xyz="0.02797 0.019019 -0.15413"/>
      <geometry>
        <mesh filename="package://wolfgang_description/urdf/knee_spacer.stl"/>
      </geometry>
      <material name="knee_spacer_material">
        <color rgba="0.647059 0.647059 0.647059 1.0"/>
      </material>
    </visual>
    <collision>
      <origin rpy="-8.11627e-32 -5.23998e-17 1.25521e-31" xyz="0.02797 0.019019 -0.15413"/>
      <geometry>
        <mesh filename="package://wolfgang_description/urdf/knee_spacer.stl"/>
      </geometry>
      <material name="knee_spacer_material">
        <color rgba="0.647059 0.647059 0.647059 1.0"/>
      </material>
    </collision>
    <visual>
      <origin rpy="-4.78814e-17 -1.0347e-16 6.41104e-31" xyz="0.02797 -0.031481 -0.15413"/>
      <geometry>
        <mesh filename="package://wolfgang_description/urdf/knee_spacer.stl"/>
      </geometry>
      <material name="knee_spacer_material">
        <color rgba="0.647059 0.647059 0.647059 1.0"/>
      </material>
    </visual>
    <collision>
      <origin rpy="-4.78814e-17 -1.0347e-16 6.41104e-31" xyz="0.02797 -0.031481 -0.15413"/>
      <geometry>
        <mesh filename="package://wolfgang_description/urdf/knee_spacer.stl"/>
      </geometry>
      <material name="knee_spacer_material">
        <color rgba="0.647059 0.647059 0.647059 1.0"/>
      </material>
    </collision>
    <visual>
      <origin rpy="-4.76965e-17 -1.58036e-17 -2.53255e-31" xyz="3.747e-15 -0.0505 -0.17"/>
      <geometry>
        <mesh filename="package://wolfgang_description/urdf/lower_leg.stl"/>
      </geometry>
      <material name="lower_leg_material">
        <color rgba="0.960784 0.960784 0.960784 1.0"/>
      </material>
    </visual>
    <collision>
      <origin rpy="-4.76965e-17 -1.58036e-17 -2.53255e-31" xyz="3.747e-15 -0.0505 -0.17"/>
      <geometry>
        <mesh filename="package://wolfgang_description/urdf/lower_leg.stl"/>
      </geometry>
      <material name="lower_leg_material">
        <color rgba="0.960784 0.960784 0.960784 1.0"/>
      </material>
    </collision>
    <visual>
      <origin rpy="-4.78063e-16 -3.09356e-17 -2.15511e-15" xyz="3.51802e-15 0.0035 -0.17"/>
      <geometry>
        <mesh filename="package://wolfgang_description/urdf/lower_leg.stl"/>
      </geometry>
      <material name="lower_leg_material">
        <color rgba="0.960784 0.960784 0.960784 1.0"/>
      </material>
    </visual>
    <collision>
      <origin rpy="-4.78063e-16 -3.09356e-17 -2.15511e-15" xyz="3.51802e-15 0.0035 -0.17"/>
      <geometry>
        <mesh filename="package://wolfgang_description/urdf/lower_leg.stl"/>
      </geometry>
      <material name="lower_leg_material">
        <color rgba="0.960784 0.960784 0.960784 1.0"/>
      </material>
    </collision>
    <inertial>
      <origin rpy="0 0 0" xyz="0.00131514 -0.00765101 -0.0457625"/>
      <mass value="0.0842512"/>
      <inertia ixx="0.000356356" ixy="-1.78213e-06" ixz="-1.07459e-05" iyy="0.000301696" iyz="-5.93333e-05" izz="7.37841e-05"/>
    </inertial>
  </link>
  <link name="right_hip_left_ankle_2">
    <visual>
      <origin rpy="1.5708 1.52434e-16 -1.5708" xyz="0.0261 0.007 -0.0405"/>
      <geometry>
        <mesh filename="package://wolfgang_description/urdf/motor_connector.stl"/>
      </geometry>
      <material name="motor_connector_material">
        <color rgba="0.647059 0.647059 0.647059 1.0"/>
      </material>
    </visual>
    <collision>
      <origin rpy="1.5708 1.52434e-16 -1.5708" xyz="0.0261 0.007 -0.0405"/>
      <geometry>
        <mesh filename="package://wolfgang_description/urdf/motor_connector.stl"/>
      </geometry>
      <material name="motor_connector_material">
        <color rgba="0.647059 0.647059 0.647059 1.0"/>
      </material>
    </collision>
    <visual>
      <origin rpy="-3.14159 -1.5708 0" xyz="-0.0201 0.0105 -0.04"/>
      <geometry>
        <mesh filename="package://wolfgang_description/urdf/thrustbearingholder.stl"/>
      </geometry>
      <material name="thrustbearingholder_material">
        <color rgba="0.792157 0.819608 0.933333 1.0"/>
      </material>
    </visual>
    <collision>
      <origin rpy="-3.14159 -1.5708 0" xyz="-0.0201 0.0105 -0.04"/>
      <geometry>
        <mesh filename="package://wolfgang_description/urdf/thrustbearingholder.stl"/>
      </geometry>
      <material name="thrustbearingholder_material">
        <color rgba="0.792157 0.819608 0.933333 1.0"/>
      </material>
    </collision>
    <visual>
      <origin rpy="-1.5708 1.17853e-16 1.5708" xyz="0.0261 -0.021 -0.0115"/>
      <geometry>
        <mesh filename="package://wolfgang_description/urdf/motor_connector.stl"/>
      </geometry>
      <material name="motor_connector_material">
        <color rgba="0.647059 0.647059 0.647059 1.0"/>
      </material>
    </visual>
    <collision>
      <origin rpy="-1.5708 1.17853e-16 1.5708" xyz="0.0261 -0.021 -0.0115"/>
      <geometry>
        <mesh filename="package://wolfgang_description/urdf/motor_connector.stl"/>
      </geometry>
      <material name="motor_connector_material">
        <color rgba="0.647059 0.647059 0.647059 1.0"/>
      </material>
    </collision>
    <visual>
      <origin rpy="-1.5708 -5.16101e-15 -5.5874e-18" xyz="1.38778e-17 0 -0.026"/>
      <geometry>
        <mesh filename="package://wolfgang_description/urdf/mx-106_body.stl"/>
      </geometry>
      <material name="mx-106_body_material">
        <color rgba="0.262745 0.282353 0.301961 1.0"/>
      </material>
    </visual>
    <collision>
      <origin rpy="-1.5708 -5.16101e-15 -5.5874e-18" xyz="1.38778e-17 0 -0.026"/>
      <geometry>
        <mesh filename="package://wolfgang_description/urdf/mx-106_body.stl"/>
      </geometry>
      <material name="mx-106_body_material">
        <color rgba="0.262745 0.282353 0.301961 1.0"/>
      </material>
    </collision>
    <visual>
      <origin rpy="-1.5708 1.5708 0" xyz="0.0431 1.11022e-16 -0.026"/>
      <geometry>
        <mesh filename="package://wolfgang_description/urdf/mx-106_body.stl"/>
      </geometry>
      <material name="mx-106_body_material">
        <color rgba="0.262745 0.282353 0.301961 1.0"/>
      </material>
    </visual>
    <collision>
      <origin rpy="-1.5708 1.5708 0" xyz="0.0431 1.11022e-16 -0.026"/>
      <geometry>
        <mesh filename="package://wolfgang_description/urdf/mx-106_body.stl"/>
      </geometry>
      <material name="mx-106_body_material">
        <color rgba="0.262745 0.282353 0.301961 1.0"/>
      </material>
    </collision>
    <inertial>
      <origin rpy="0 0 0" xyz="0.0204593 -0.0155281 -0.0260139"/>
      <mass value="0.319807"/>
      <inertia ixx="0.000116773" ixy="4.53857e-06" ixz="-6.75013e-07" iyy="0.000268424" iyz="-7.24073e-07" izz="0.00027281"/>
    </inertial>
  </link>
  <link name="l_foot">
    <visual>
      <origin rpy="6.79277e-16 -1.97403e-15 -1.5708" xyz="0.03 -0.007 -0.04375"/>
      <geometry>
        <mesh filename="package://wolfgang_description/urdf/flex_stollen.stl"/>
      </geometry>
      <material name="flex_stollen_material">
        <color rgba="0.615686 0.811765 0.929412 1.0"/>
      </material>
    </visual>
    <collision>
      <origin rpy="6.79277e-16 -1.97403e-15 -1.5708" xyz="0.03 -0.007 -0.04375"/>
      <geometry>
        <mesh filename="package://wolfgang_description/urdf/flex_stollen.stl"/>
      </geometry>
      <material name="flex_stollen_material">
        <color rgba="0.615686 0.811765 0.929412 1.0"/>
      </material>
    </collision>
    <visual>
      <origin rpy="6.80641e-15 -4.22482e-15 -1.5708" xyz="-0.06 0.177 -0.04375"/>
      <geometry>
        <mesh filename="package://wolfgang_description/urdf/flex_stollen.stl"/>
      </geometry>
      <material name="flex_stollen_material">
        <color rgba="0.615686 0.811765 0.929412 1.0"/>
      </material>
    </visual>
    <collision>
      <origin rpy="6.80641e-15 -4.22482e-15 -1.5708" xyz="-0.06 0.177 -0.04375"/>
      <geometry>
        <mesh filename="package://wolfgang_description/urdf/flex_stollen.stl"/>
      </geometry>
      <material name="flex_stollen_material">
        <color rgba="0.615686 0.811765 0.929412 1.0"/>
      </material>
    </collision>
    <visual>
      <origin rpy="-4.35665e-15 -5.77818e-15 -2.20171e-17" xyz="-0.06 0.1635 -0.03375"/>
      <geometry>
        <mesh filename="package://wolfgang_description/urdf/load_cell.stl"/>
      </geometry>
      <material name="load_cell_material">
        <color rgba="0.717647 0.717647 0.717647 1.0"/>
      </material>
    </visual>
    <collision>
      <origin rpy="-4.35665e-15 -5.77818e-15 -2.20171e-17" xyz="-0.06 0.1635 -0.03375"/>
      <geometry>
        <mesh filename="package://wolfgang_description/urdf/load_cell.stl"/>
      </geometry>
      <material name="load_cell_material">
        <color rgba="0.717647 0.717647 0.717647 1.0"/>
      </material>
    </collision>
    <visual>
      <origin rpy="4.02671e-15 5.77818e-15 3.14159" xyz="0.03 0.0065 -0.03375"/>
      <geometry>
        <mesh filename="package://wolfgang_description/urdf/load_cell.stl"/>
      </geometry>
      <material name="load_cell_material">
        <color rgba="0.717647 0.717647 0.717647 1.0"/>
      </material>
    </visual>
    <collision>
      <origin rpy="4.02671e-15 5.77818e-15 3.14159" xyz="0.03 0.0065 -0.03375"/>
      <geometry>
        <mesh filename="package://wolfgang_description/urdf/load_cell.stl"/>
      </geometry>
      <material name="load_cell_material">
        <color rgba="0.717647 0.717647 0.717647 1.0"/>
      </material>
    </collision>
    <visual>
      <origin rpy="5.77818e-15 6.8631e-15 -1.5708" xyz="-0.015 0.085 -0.0395"/>
      <geometry>
        <mesh filename="package://wolfgang_description/urdf/foot_printed_left.stl"/>
      </geometry>
      <material name="foot_printed_left_material">
        <color rgba="0.717647 0.717647 0.717647 1.0"/>
      </material>
    </visual>
    <collision>
      <origin rpy="5.77818e-15 6.8631e-15 -1.5708" xyz="-0.015 0.085 -0.0395"/>
      <geometry>
        <mesh filename="package://wolfgang_description/urdf/foot_printed_left.stl"/>
      </geometry>
      <material name="foot_printed_left_material">
        <color rgba="0.717647 0.717647 0.717647 1.0"/>
      </material>
    </collision>
    <visual>
      <origin rpy="3.14159 -5.03639e-15 -5.39852e-17" xyz="0.022 0.16 -0.0324"/>
      <geometry>
        <mesh filename="package://wolfgang_description/urdf/forcefoot_pcb.stl"/>
      </geometry>
      <material name="forcefoot_pcb_material">
        <color rgba="0.141176 0.52549 0.141176 1.0"/>
      </material>
    </visual>
    <collision>
      <origin rpy="3.14159 -5.03639e-15 -5.39852e-17" xyz="0.022 0.16 -0.0324"/>
      <geometry>
        <mesh filename="package://wolfgang_description/urdf/forcefoot_pcb.stl"/>
      </geometry>
      <material name="forcefoot_pcb_material">
        <color rgba="0.141176 0.52549 0.141176 1.0"/>
      </material>
    </collision>
    <visual>
      <origin rpy="1.29452e-15 -3.55046e-15 -1.5708" xyz="-0.00654316 0.0618337 -0.0463905"/>
      <geometry>
        <mesh filename="package://wolfgang_description/urdf/foot_cover.stl"/>
      </geometry>
      <material name="foot_cover_material">
        <color rgba="0.647059 0.647059 0.647059 1.0"/>
      </material>
    </visual>
    <collision>
      <origin rpy="1.29452e-15 -3.55046e-15 -1.5708" xyz="-0.00654316 0.0618337 -0.0463905"/>
      <geometry>
        <mesh filename="package://wolfgang_description/urdf/foot_cover.stl"/>
      </geometry>
      <material name="foot_cover_material">
        <color rgba="0.647059 0.647059 0.647059 1.0"/>
      </material>
    </collision>
    <visual>
      <origin rpy="6.80641e-15 -4.22482e-15 -1.5708" xyz="0.03 0.177 -0.04375"/>
      <geometry>
        <mesh filename="package://wolfgang_description/urdf/flex_stollen.stl"/>
      </geometry>
      <material name="flex_stollen_material">
        <color rgba="0.615686 0.811765 0.929412 1.0"/>
      </material>
    </visual>
    <collision>
      <origin rpy="6.80641e-15 -4.22482e-15 -1.5708" xyz="0.03 0.177 -0.04375"/>
      <geometry>
        <mesh filename="package://wolfgang_description/urdf/flex_stollen.stl"/>
      </geometry>
      <material name="flex_stollen_material">
        <color rgba="0.615686 0.811765 0.929412 1.0"/>
      </material>
    </collision>
    <visual>
      <origin rpy="-5.89229e-18 -6.62422e-31 4.13862e-31" xyz="0 0.046 -0.036"/>
      <geometry>
        <mesh filename="package://wolfgang_description/urdf/ankle.stl"/>
      </geometry>
      <material name="ankle_material">
        <color rgba="0.717647 0.717647 0.717647 1.0"/>
      </material>
    </visual>
    <collision>
      <origin rpy="-5.89229e-18 -6.62422e-31 4.13862e-31" xyz="0 0.046 -0.036"/>
      <geometry>
        <mesh filename="package://wolfgang_description/urdf/ankle.stl"/>
      </geometry>
      <material name="ankle_material">
        <color rgba="0.717647 0.717647 0.717647 1.0"/>
      </material>
    </collision>
    <visual>
      <origin rpy="-4.35665e-15 -5.77818e-15 -2.20171e-17" xyz="0.03 0.1635 -0.03375"/>
      <geometry>
        <mesh filename="package://wolfgang_description/urdf/load_cell.stl"/>
      </geometry>
      <material name="load_cell_material">
        <color rgba="0.717647 0.717647 0.717647 1.0"/>
      </material>
    </visual>
    <collision>
      <origin rpy="-4.35665e-15 -5.77818e-15 -2.20171e-17" xyz="0.03 0.1635 -0.03375"/>
      <geometry>
        <mesh filename="package://wolfgang_description/urdf/load_cell.stl"/>
      </geometry>
      <material name="load_cell_material">
        <color rgba="0.717647 0.717647 0.717647 1.0"/>
      </material>
    </collision>
    <visual>
      <origin rpy="-4.35665e-15 -5.77818e-15 -2.20171e-17" xyz="-0.06 0.0065 -0.03375"/>
      <geometry>
        <mesh filename="package://wolfgang_description/urdf/load_cell.stl"/>
      </geometry>
      <material name="load_cell_material">
        <color rgba="0.717647 0.717647 0.717647 1.0"/>
      </material>
    </visual>
    <collision>
      <origin rpy="-4.35665e-15 -5.77818e-15 -2.20171e-17" xyz="-0.06 0.0065 -0.03375"/>
      <geometry>
        <mesh filename="package://wolfgang_description/urdf/load_cell.stl"/>
      </geometry>
      <material name="load_cell_material">
        <color rgba="0.717647 0.717647 0.717647 1.0"/>
      </material>
    </collision>
    <inertial>
      <origin rpy="0 0 0" xyz="-0.0119024 0.0920935 -0.0298564"/>
      <mass value="0.280112"/>
      <inertia ixx="0.000935302" ixy="4.00947e-05" ixz="-4.29671e-06" iyy="0.000339529" iyz="-1.73811e-05" izz="0.00122386"/>
    </inertial>
  </link>
  <link name="l_sole">
    <inertial>
      <origin rpy="0 0 0" xyz="0 0 0"/>
      <mass value="1e-9"/>
      <inertia ixx="0" ixy="0" ixz="0" iyy="0" iyz="0" izz="0"/>
    </inertial>
  </link>
  <joint name="l_sole_frame" type="fixed">
    <origin rpy="-5.77818e-15 -7.01261e-15 1.5708" xyz="-0.0152261 0.0907683 -0.0529"/>
    <parent link="l_foot"/>
    <child link="l_sole"/>
    <axis xyz="0 0 0"/>
  </joint>
  <link name="l_cleat_l_front">
    <inertial>
      <origin rpy="0 0 0" xyz="0 0 0"/>
      <mass value="1e-9"/>
      <inertia ixx="0" ixy="0" ixz="0" iyy="0" iyz="0" izz="0"/>
    </inertial>
  </link>
  <joint name="l_cleat_l_front_frame" type="fixed">
    <origin rpy="-6.55214e-15 4.2513e-15 1.5708" xyz="-0.0605 0.177 -0.04975"/>
    <parent link="l_foot"/>
    <child link="l_cleat_l_front"/>
    <axis xyz="0 0 0"/>
  </joint>
  <link name="l_cleat_r_front">
    <inertial>
      <origin rpy="0 0 0" xyz="0 0 0"/>
      <mass value="1e-9"/>
      <inertia ixx="0" ixy="0" ixz="0" iyy="0" iyz="0" izz="0"/>
    </inertial>
  </link>
  <joint name="l_cleat_r_front_frame" type="fixed">
    <origin rpy="-6.55214e-15 4.2513e-15 1.5708" xyz="0.0295 0.177 -0.04975"/>
    <parent link="l_foot"/>
    <child link="l_cleat_r_front"/>
    <axis xyz="0 0 0"/>
  </joint>
  <link name="l_cleat_r_back">
    <inertial>
      <origin rpy="0 0 0" xyz="0 0 0"/>
      <mass value="1e-9"/>
      <inertia ixx="0" ixy="0" ixz="0" iyy="0" iyz="0" izz="0"/>
    </inertial>
  </link>
  <joint name="l_cleat_r_back_frame" type="fixed">
    <origin rpy="-3.99384e-16 1.98982e-15 1.5708" xyz="0.0295 -0.007 -0.04975"/>
    <parent link="l_foot"/>
    <child link="l_cleat_r_back"/>
    <axis xyz="0 0 0"/>
  </joint>
  <link name="llb">
    <visual>
      <origin rpy="1.72563e-31 1.33455e-17 2.12215e-30" xyz="-1.38778e-17 -1.38778e-17 -0.01"/>
      <geometry>
        <mesh filename="package://wolfgang_description/urdf/flex_stollen.stl"/>
      </geometry>
      <material name="flex_stollen_material">
        <color rgba="0.615686 0.811765 0.929412 1.0"/>
      </material>
    </visual>
    <collision>
      <origin rpy="1.72563e-31 1.33455e-17 2.12215e-30" xyz="-1.38778e-17 -1.38778e-17 -0.01"/>
      <geometry>
        <mesh filename="package://wolfgang_description/urdf/flex_stollen.stl"/>
      </geometry>
      <material name="flex_stollen_material">
        <color rgba="0.615686 0.811765 0.929412 1.0"/>
      </material>
    </collision>
    <inertial>
      <origin rpy="0 0 0" xyz="-1.3771e-17 0.000155519 -0.00775879"/>
      <mass value="0.00165976"/>
      <inertia ixx="4.3352e-08" ixy="1.46707e-26" ixz="-2.46785e-25" iyy="4.44049e-08" iyz="-1.0993e-09" izz="3.04397e-08"/>
    </inertial>
  </link>
  <link name="l_cleat_l_back">
    <inertial>
      <origin rpy="0 0 0" xyz="0 0 0"/>
      <mass value="1e-9"/>
      <inertia ixx="0" ixy="0" ixz="0" iyy="0" iyz="0" izz="0"/>
    </inertial>
  </link>
  <joint name="l_cleat_l_back_frame" type="fixed">
    <origin rpy="1.97551e-16 -1.05004e-19 3.14159" xyz="5.55112e-17 -0.0005 -0.016"/>
    <parent link="llb"/>
    <child link="l_cleat_l_back"/>
    <axis xyz="0 0 0"/>
  </joint>
  <joint name="LLB" type="fixed">
    <origin rpy="5.84053e-15 -4.62286e-15 -1.5708" xyz="-0.06 -0.007 -0.03375"/>
    <parent link="l_foot"/>
    <child link="llb"/>
    <axis xyz="0 1.22465e-16 1"/>
    <limit effort="0" velocity="0"/>
    <joint_properties friction="0.0"/>
  </joint>
  <joint name="LAnkleRoll" type="revolute">
    <origin rpy="1.5708 -1.5708 0" xyz="0.0691 2.22045e-16 -0.026"/>
    <parent link="right_hip_left_ankle_2"/>
    <child link="l_foot"/>
    <axis xyz="-0 -1 -0"/>
    <limit effort="7.57" lower="-1.0472" upper="1.0472" velocity="8.22"/>
    <joint_properties friction="0.0"/>
  </joint>
  <joint name="LAnklePitch" type="revolute">
    <origin rpy="-1.5708 -8.72457e-16 3.14159" xyz="3.5319e-15 -0.0505 -0.17"/>
    <parent link="lower_leg_left_1"/>
    <child link="right_hip_left_ankle_2"/>
    <axis xyz="-0 -0 -1"/>
    <limit effort="7.57" lower="-1.22173" upper="1.5708" velocity="8.22"/>
    <joint_properties friction="0.0"/>
  </joint>
  <joint name="LKnee" type="revolute">
    <origin rpy="1.5708 -1.75248e-15 2.87979" xyz="0.00435596 -0.168793 0.049"/>
    <parent link="l_knee"/>
    <child link="lower_leg_left_1"/>
    <axis xyz="0 -1 0"/>
    <limit effort="10" lower="-2.96706" upper="0" velocity="10"/>
    <joint_properties friction="0.0"/>
  </joint>
  <joint name="LHipPitch" type="revolute">
    <origin rpy="2.67116e-16 -1.5708 0" xyz="0.026 6.93889e-18 -0.0691"/>
    <parent link="left_hip_right_ankle_2"/>
    <child link="l_knee"/>
    <axis xyz="7.95491e-17 -3.00167e-16 -1"/>
    <limit effort="7.57" lower="-1.5708" upper="1.5708" velocity="8.22"/>
    <joint_properties friction="0.0"/>
  </joint>
  <joint name="LHipRoll" type="revolute">
    <origin rpy="3.14159 1.5708 0" xyz="-0.046 0.0414 -7.97973e-16"/>
    <parent link="hip_u_connector_2"/>
    <child link="left_hip_right_ankle_2"/>
    <axis xyz="-0 -0 -1"/>
    <limit effort="7.57" lower="-1.5708" upper="1.5708" velocity="8.22"/>
    <joint_properties friction="0.0"/>
  </joint>
  <joint name="LHipYaw" type="revolute">
    <origin rpy="-1.5708 -0 0" xyz="-2.28983e-16 0.055 2.71051e-18"/>
    <parent link="torso"/>
    <child link="hip_u_connector_2"/>
    <axis xyz="0 -1 0"/>
    <limit effort="7.57" lower="-1.5708" upper="1.5708" velocity="8.22"/>
    <joint_properties friction="0.0"/>
  </joint>
  <link name="neck_1">
    <visual>
      <origin rpy="-7.1415e-32 2.28711e-32 -3.97109e-33" xyz="0.0035 0 -0.0093"/>
      <geometry>
        <mesh filename="package://wolfgang_description/urdf/connector_shoulder.stl"/>
      </geometry>
      <material name="connector_shoulder_material">
        <color rgba="0.717647 0.717647 0.717647 1.0"/>
      </material>
    </visual>
    <collision>
      <origin rpy="-7.1415e-32 2.28711e-32 -3.97109e-33" xyz="0.0035 0 -0.0093"/>
      <geometry>
        <mesh filename="package://wolfgang_description/urdf/connector_shoulder.stl"/>
      </geometry>
      <material name="connector_shoulder_material">
        <color rgba="0.717647 0.717647 0.717647 1.0"/>
      </material>
    </collision>
    <visual>
      <origin rpy="3.14159 -1.5708 0" xyz="0.036 3.10152e-17 -0.024"/>
      <geometry>
        <mesh filename="package://wolfgang_description/urdf/mx-64-body.stl"/>
      </geometry>
      <material name="mx-64-body_material">
        <color rgba="0.247059 0.247059 0.247059 1.0"/>
      </material>
    </visual>
    <collision>
      <origin rpy="3.14159 -1.5708 0" xyz="0.036 3.10152e-17 -0.024"/>
      <geometry>
        <mesh filename="package://wolfgang_description/urdf/mx-64-body.stl"/>
      </geometry>
      <material name="mx-64-body_material">
        <color rgba="0.247059 0.247059 0.247059 1.0"/>
      </material>
    </collision>
    <inertial>
      <origin rpy="0 0 0" xyz="0.0186912 -7.75177e-05 -0.0220143"/>
      <mass value="0.148233"/>
      <inertia ixx="3.89355e-05" ixy="-5.28709e-07" ixz="4.95698e-06" iyy="5.76318e-05" iyz="-2.28158e-08" izz="6.25414e-05"/>
    </inertial>
  </link>
  <link name="head">
    <visual>
      <origin rpy="-1.5708 -1.5708 0" xyz="0.0432 0.0795 -0.0235"/>
      <geometry>
        <mesh filename="package://wolfgang_description/urdf/lense.stl"/>
      </geometry>
      <material name="lense_material">
        <color rgba="0.647059 0.647059 0.647059 1.0"/>
      </material>
    </visual>
    <collision>
      <origin rpy="-1.5708 -1.5708 0" xyz="0.0432 0.0795 -0.0235"/>
      <geometry>
        <mesh filename="package://wolfgang_description/urdf/lense.stl"/>
      </geometry>
      <material name="lense_material">
        <color rgba="0.647059 0.647059 0.647059 1.0"/>
      </material>
    </collision>
    <visual>
      <origin rpy="3.88389e-31 -1.5433e-31 1.35585e-31" xyz="0 0 3.46945e-18"/>
      <geometry>
        <mesh filename="package://wolfgang_description/urdf/sea_ninjaflex.stl"/>
      </geometry>
      <material name="sea_ninjaflex_material">
        <color rgba="0.717647 0.717647 0.717647 1.0"/>
      </material>
    </visual>
    <collision>
      <origin rpy="3.88389e-31 -1.5433e-31 1.35585e-31" xyz="0 0 3.46945e-18"/>
      <geometry>
        <mesh filename="package://wolfgang_description/urdf/sea_ninjaflex.stl"/>
      </geometry>
      <material name="sea_ninjaflex_material">
        <color rgba="0.717647 0.717647 0.717647 1.0"/>
      </material>
    </collision>
    <visual>
      <origin rpy="-8.16317e-16 -2.22045e-16 3.14159" xyz="-2.08167e-17 -5.55112e-17 0.009"/>
      <geometry>
        <mesh filename="package://wolfgang_description/urdf/sea_connector.stl"/>
      </geometry>
      <material name="sea_connector_material">
        <color rgba="0.262745 0.282353 0.301961 1.0"/>
      </material>
    </visual>
    <collision>
      <origin rpy="-8.16317e-16 -2.22045e-16 3.14159" xyz="-2.08167e-17 -5.55112e-17 0.009"/>
      <geometry>
        <mesh filename="package://wolfgang_description/urdf/sea_connector.stl"/>
      </geometry>
      <material name="sea_connector_material">
        <color rgba="0.262745 0.282353 0.301961 1.0"/>
      </material>
    </collision>
    <visual>
      <origin rpy="-1.74915e-15 -1.11022e-15 -1.38778e-15" xyz="0.01 0.065 0.024"/>
      <geometry>
        <mesh filename="package://wolfgang_description/urdf/camera_side_basler_wolfgang_v2.2_right.stl"/>
      </geometry>
      <material name="camera_side_basler_wolfgang_v2.2_right_material">
        <color rgba="0.647059 0.647059 0.647059 1.0"/>
      </material>
    </visual>
    <collision>
      <origin rpy="-1.74915e-15 -1.11022e-15 -1.38778e-15" xyz="0.01 0.065 0.024"/>
      <geometry>
        <mesh filename="package://wolfgang_description/urdf/camera_side_basler_wolfgang_v2.2_right.stl"/>
      </geometry>
      <material name="camera_side_basler_wolfgang_v2.2_right_material">
        <color rgba="0.647059 0.647059 0.647059 1.0"/>
      </material>
    </collision>
    <visual>
      <origin rpy="-1.14124e-18 -9.99201e-16 -7.21645e-16" xyz="0.01 0.065 -0.051"/>
      <geometry>
        <mesh filename="package://wolfgang_description/urdf/camera_side_basler_wolfgang_v2.2_left.stl"/>
      </geometry>
      <material name="camera_side_basler_wolfgang_v2.2_left_material">
        <color rgba="0.647059 0.647059 0.647059 1.0"/>
      </material>
    </visual>
    <collision>
      <origin rpy="-1.14124e-18 -9.99201e-16 -7.21645e-16" xyz="0.01 0.065 -0.051"/>
      <geometry>
        <mesh filename="package://wolfgang_description/urdf/camera_side_basler_wolfgang_v2.2_left.stl"/>
      </geometry>
      <material name="camera_side_basler_wolfgang_v2.2_left_material">
        <color rgba="0.647059 0.647059 0.647059 1.0"/>
      </material>
    </collision>
    <visual>
      <origin rpy="-1.5708 -1.5708 0" xyz="0.015 0.0795 -0.0235"/>
      <geometry>
        <mesh filename="package://wolfgang_description/urdf/basler_ace_gige_c-mount_v01.stl"/>
      </geometry>
      <material name="basler_ace_gige_c-mount_v01_material">
        <color rgba="0.917647 0.917647 0.917647 1.0"/>
      </material>
    </visual>
    <collision>
      <origin rpy="-1.5708 -1.5708 0" xyz="0.015 0.0795 -0.0235"/>
      <geometry>
        <mesh filename="package://wolfgang_description/urdf/basler_ace_gige_c-mount_v01.stl"/>
      </geometry>
      <material name="basler_ace_gige_c-mount_v01_material">
        <color rgba="0.917647 0.917647 0.917647 1.0"/>
      </material>
    </collision>
    <visual>
      <origin rpy="3.33067e-16 -1.5708 0" xyz="0.003 0.065 -0.037945"/>
      <geometry>
        <mesh filename="package://wolfgang_description/urdf/camera_lower_basler_wolfgang_imu_v2.2.stl"/>
      </geometry>
      <material name="camera_lower_basler_wolfgang_imu_v2.2_material">
        <color rgba="0.647059 0.647059 0.647059 1.0"/>
      </material>
    </visual>
    <collision>
      <origin rpy="3.33067e-16 -1.5708 0" xyz="0.003 0.065 -0.037945"/>
      <geometry>
        <mesh filename="package://wolfgang_description/urdf/camera_lower_basler_wolfgang_imu_v2.2.stl"/>
      </geometry>
      <material name="camera_lower_basler_wolfgang_imu_v2.2_material">
        <color rgba="0.647059 0.647059 0.647059 1.0"/>
      </material>
    </collision>
    <inertial>
      <origin rpy="0 0 0" xyz="-0.0034709 0.0682828 -0.020251"/>
      <mass value="0.318645"/>
      <inertia ixx="0.000360976" ixy="-3.54024e-06" ixz="-2.96129e-06" iyy="0.00044172" iyz="5.19892e-05" izz="0.000524061"/>
    </inertial>
  </link>
  <link name="camera">
    <inertial>
      <origin rpy="0 0 0" xyz="0 0 0"/>
      <mass value="1e-9"/>
      <inertia ixx="0" ixy="0" ixz="0" iyy="0" iyz="0" izz="0"/>
    </inertial>
  </link>
  <joint name="camera_frame" type="fixed">
    <origin rpy="-1.5708 -1.45465e-14 -3.33067e-16" xyz="0.0437 0.0795 -0.0235"/>
    <parent link="head"/>
    <child link="camera"/>
    <axis xyz="0 0 0"/>
  </joint>
  <link name="camera_optical_frame">
    <inertial>
      <origin rpy="0 0 0" xyz="0 0 0"/>
      <mass value="1e-9"/>
      <inertia ixx="0" ixy="0" ixz="0" iyy="0" iyz="0" izz="0"/>
    </inertial>
  </link>
  <joint name="camera_optical_frame_frame" type="fixed">
    <origin rpy="3.14159 -1.5708 0" xyz="0.0432 0.08 -0.0235"/>
    <parent link="head"/>
    <child link="camera_optical_frame"/>
    <axis xyz="0 0 0"/>
  </joint>
  <joint name="HeadTilt" type="revolute">
    <origin rpy="-1.5708 3.17216e-15 -5.33479e-15" xyz="0.036 0.0235 -0.024"/>
    <parent link="neck_1"/>
    <child link="head"/>
    <axis xyz="0 0 -1"/>
    <limit effort="5.43" lower="0" upper="1.5708" velocity="10.33"/>
    <joint_properties friction="0.0"/>
  </joint>
  <joint name="HeadPan" type="revolute">
    <origin rpy="-3.14159 3.41087e-16 -4.44089e-16" xyz="-0.0095 2.82644e-16 0.2345"/>
    <parent link="torso"/>
    <child link="neck_1"/>
    <axis xyz="0 0 1"/>
    <limit effort="5.43" lower="-2.0944" upper="2.0944" velocity="10.33"/>
    <joint_properties friction="0.0"/>
  </joint>
  <transmission name="HeadPanTransmission">
    <type>transmission_interface/SimpleTransmission</type>
    <joint name="HeadPan">
      <hardwareInterface>hardware_interface/EffortJointInterface</hardwareInterface>
    </joint>
    <actuator name="HeadPanMotor">
      <hardwareInterface>hardware_interface/EffortJointInterface</hardwareInterface>
      <mechanicalReduction>1</mechanicalReduction>
    </actuator>
  </transmission>
  <transmission name="HeadTiltTransmission">
    <type>transmission_interface/SimpleTransmission</type>
    <joint name="HeadTilt">
      <hardwareInterface>hardware_interface/EffortJointInterface</hardwareInterface>
    </joint>
    <actuator name="HeadTiltMotor">
      <hardwareInterface>hardware_interface/EffortJointInterface</hardwareInterface>
      <mechanicalReduction>1</mechanicalReduction>
    </actuator>
  </transmission>
  <transmission name="LShoulderPitchTransmission">
    <type>transmission_interface/SimpleTransmission</type>
    <joint name="LShoulderPitch">
      <hardwareInterface>hardware_interface/EffortJointInterface</hardwareInterface>
    </joint>
    <actuator name="LShoulderPitchMotor">
      <hardwareInterface>hardware_interface/EffortJointInterface</hardwareInterface>
      <mechanicalReduction>1</mechanicalReduction>
    </actuator>
  </transmission>
  <transmission name="LShoulderRollTransmission">
    <type>transmission_interface/SimpleTransmission</type>
    <joint name="LShoulderRoll">
      <hardwareInterface>hardware_interface/EffortJointInterface</hardwareInterface>
    </joint>
    <actuator name="LShoulderRollTransmission">
      <hardwareInterface>hardware_interface/EffortJointInterface</hardwareInterface>
      <mechanicalReduction>1</mechanicalReduction>
    </actuator>
  </transmission>
  <transmission name="LElbowTransmission">
    <type>transmission_interface/SimpleTransmission</type>
    <joint name="LElbow">
      <hardwareInterface>hardware_interface/EffortJointInterface</hardwareInterface>
    </joint>
    <actuator name="LElbowMotor">
      <hardwareInterface>hardware_interface/EffortJointInterface</hardwareInterface>
      <mechanicalReduction>1</mechanicalReduction>
    </actuator>
  </transmission>
  <transmission name="RShoulderPitchTransmission">
    <type>transmission_interface/SimpleTransmission</type>
    <joint name="RShoulderPitch">
      <hardwareInterface>hardware_interface/EffortJointInterface</hardwareInterface>
    </joint>
    <actuator name="RShoulderPitchMotor">
      <hardwareInterface>hardware_interface/EffortJointInterface</hardwareInterface>
      <mechanicalReduction>1</mechanicalReduction>
    </actuator>
  </transmission>
  <transmission name="RShoulderRollTransmission">
    <type>transmission_interface/SimpleTransmission</type>
    <joint name="RShoulderRoll">
      <hardwareInterface>hardware_interface/EffortJointInterface</hardwareInterface>
    </joint>
    <actuator name="RShoulderRollMotor">
      <hardwareInterface>hardware_interface/EffortJointInterface</hardwareInterface>
      <mechanicalReduction>1</mechanicalReduction>
    </actuator>
  </transmission>
  <transmission name="RElbowTransmission">
    <type>transmission_interface/SimpleTransmission</type>
    <joint name="RElbow">
      <hardwareInterface>hardware_interface/EffortJointInterface</hardwareInterface>
    </joint>
    <actuator name="RElbowMotor">
      <hardwareInterface>hardware_interface/EffortJointInterface</hardwareInterface>
      <mechanicalReduction>1</mechanicalReduction>
    </actuator>
  </transmission>
  <transmission name="LHipYawTransmission">
    <type>transmission_interface/SimpleTransmission</type>
    <joint name="LHipYaw">
      <hardwareInterface>hardware_interface/EffortJointInterface</hardwareInterface>
    </joint>
    <actuator name="LHipYawMotor">
      <hardwareInterface>hardware_interface/EffortJointInterface</hardwareInterface>
      <mechanicalReduction>1</mechanicalReduction>
    </actuator>
  </transmission>
  <transmission name="LHipRollTransmission">
    <type>transmission_interface/SimpleTransmission</type>
    <joint name="LHipRoll">
      <hardwareInterface>hardware_interface/EffortJointInterface</hardwareInterface>
    </joint>
    <actuator name="LHipRollMotor">
      <hardwareInterface>hardware_interface/EffortJointInterface</hardwareInterface>
      <mechanicalReduction>1</mechanicalReduction>
    </actuator>
  </transmission>
  <transmission name="LHipPitchTransmission">
    <type>transmission_interface/SimpleTransmission</type>
    <joint name="LHipPitch">
      <hardwareInterface>hardware_interface/EffortJointInterface</hardwareInterface>
    </joint>
    <actuator name="LHipPitchMotor">
      <hardwareInterface>hardware_interface/EffortJointInterface</hardwareInterface>
      <mechanicalReduction>1</mechanicalReduction>
    </actuator>
  </transmission>
  <transmission name="LKneeTransmission">
    <type>transmission_interface/SimpleTransmission</type>
    <joint name="LKnee">
      <hardwareInterface>hardware_interface/EffortJointInterface</hardwareInterface>
    </joint>
    <actuator name="LKneeMotor">
      <hardwareInterface>hardware_interface/EffortJointInterface</hardwareInterface>
      <mechanicalReduction>1</mechanicalReduction>
    </actuator>
  </transmission>
  <transmission name="LAnklePitchTransmission">
    <type>transmission_interface/SimpleTransmission</type>
    <joint name="LAnklePitch">
      <hardwareInterface>hardware_interface/EffortJointInterface</hardwareInterface>
    </joint>
    <actuator name="LAnklePitchMotor">
      <hardwareInterface>hardware_interface/EffortJointInterface</hardwareInterface>
      <mechanicalReduction>1</mechanicalReduction>
    </actuator>
  </transmission>
  <transmission name="LAnkleRollTransmission">
    <type>transmission_interface/SimpleTransmission</type>
    <joint name="LAnkleRoll">
      <hardwareInterface>hardware_interface/EffortJointInterface</hardwareInterface>
    </joint>
    <actuator name="LAnkleRollMotor">
      <hardwareInterface>hardware_interface/EffortJointInterface</hardwareInterface>
      <mechanicalReduction>1</mechanicalReduction>
    </actuator>
  </transmission>
  <transmission name="RHipYawTransmission">
    <type>transmission_interface/SimpleTransmission</type>
    <joint name="RHipYaw">
      <hardwareInterface>hardware_interface/EffortJointInterface</hardwareInterface>
    </joint>
    <actuator name="RHipYawMotor">
      <hardwareInterface>hardware_interface/EffortJointInterface</hardwareInterface>
      <mechanicalReduction>1</mechanicalReduction>
    </actuator>
  </transmission>
  <transmission name="RHipRollTransmission">
    <type>transmission_interface/SimpleTransmission</type>
    <joint name="RHipRoll">
      <hardwareInterface>hardware_interface/EffortJointInterface</hardwareInterface>
    </joint>
    <actuator name="RHipRollMotor">
      <hardwareInterface>hardware_interface/EffortJointInterface</hardwareInterface>
      <mechanicalReduction>1</mechanicalReduction>
    </actuator>
  </transmission>
  <transmission name="RHipPitchTransmission">
    <type>transmission_interface/SimpleTransmission</type>
    <joint name="RHipPitch">
      <hardwareInterface>hardware_interface/EffortJointInterface</hardwareInterface>
    </joint>
    <actuator name="RHipPitchMotor">
      <hardwareInterface>hardware_interface/EffortJointInterface</hardwareInterface>
      <mechanicalReduction>1</mechanicalReduction>
    </actuator>
  </transmission>
  <transmission name="RKneeTransmission">
    <type>transmission_interface/SimpleTransmission</type>
    <joint name="RKnee">
      <hardwareInterface>hardware_interface/EffortJointInterface</hardwareInterface>
    </joint>
    <actuator name="RKneeMotor">
      <hardwareInterface>hardware_interface/EffortJointInterface</hardwareInterface>
      <mechanicalReduction>1</mechanicalReduction>
    </actuator>
  </transmission>
  <transmission name="RAnklePitchTransmission">
    <type>transmission_interface/SimpleTransmission</type>
    <joint name="RAnklePitch">
      <hardwareInterface>hardware_interface/EffortJointInterface</hardwareInterface>
    </joint>
    <actuator name="RAnklePitchMotor">
      <hardwareInterface>hardware_interface/EffortJointInterface</hardwareInterface>
      <mechanicalReduction>1</mechanicalReduction>
    </actuator>
  </transmission>
  <transmission name="RAnkleRollTransmission">
    <type>transmission_interface/SimpleTransmission</type>
    <joint name="RAnkleRoll">
      <hardwareInterface>hardware_interface/EffortJointInterface</hardwareInterface>
    </joint>
    <actuator name="RAnkleRollMotor">
      <hardwareInterface>hardware_interface/EffortJointInterface</hardwareInterface>
      <mechanicalReduction>1</mechanicalReduction>
    </actuator>
  </transmission>
  <gazebo reference="r_foot">
    <material>Gazebo/FlatBlack</material>
    <kp>1000000.0</kp>
    <kd>100.0</kd>
    <mu1>1.0</mu1>
    <mu2>1.0</mu2>
    <fdir1>1 0 0</fdir1>
    <maxVel>1.0</maxVel>
    <minDepth>0.00</minDepth>
  </gazebo>
  <gazebo reference="l_foot">
    <material>Gazebo/FlatBlack</material>
    <kp>1000000.0</kp>
    <kd>100.0</kd>
    <mu1>1.0</mu1>
    <mu2>1.0</mu2>
    <fdir1>1 0 0</fdir1>
    <maxVel>1.0</maxVel>
    <minDepth>0.00</minDepth>
  </gazebo>
  <!-- joint controller -->
  <gazebo>
    <plugin filename="libgazebo_ros_control.so" name="gazebo_ros_control">
      <robotNamespace>/</robotNamespace>
    </plugin>
  </gazebo>
  <!-- camera sensor -->
  <gazebo reference="camera">
    <sensor name="camera" type="camera">
      <pose>-0.050000 -0.010000 0.000000 -1.5708 0.000000 -3.141592</pose>
      <camera name="__default__">
        <horizontal_fov>0.57</horizontal_fov>
        <image>
          <width>620</width>
          <height>480</height>
        </image>
        <clip>
          <near>0.001000</near>
          <far>100.000000</far>
        </clip>
      </camera>
      <always_on>1</always_on>
      <update_rate>30.000000</update_rate>
      <visualize>1</visualize>
      <plugin filename="libgazebo_ros_camera.so" name="camera_controller">
        <alwaysOn>true</alwaysOn>
        <updateRate>30</updateRate>
        <cameraName>camera</cameraName>
        <imageTopicName>image_raw</imageTopicName>
        <cameraInfoTopicName>camera_info</cameraInfoTopicName>
        <frameName>camera_optical_frame</frameName>
        <hackBaseline>0.07</hackBaseline>
        <distortionK1>0.0</distortionK1>
        <distortionK2>0.0</distortionK2>
        <distortionK3>0.0</distortionK3>
        <distortionT1>0.0</distortionT1>
        <distortionT2>0.0</distortionT2>
      </plugin>
    </sensor>
  </gazebo>
  <!-- IMU sensor -->
  <gazebo reference="imu_frame">
    <gravity>true</gravity>
    <sensor name="imu_sensor" type="imu">
      <always_on>true</always_on>
      <update_rate>100</update_rate>
      <visualize>true</visualize>
      <topic>__default_topic__</topic>
      <plugin filename="libgazebo_ros_imu_sensor.so" name="imu_plugin">
        <topicName>imu</topicName>
        <bodyName>imu_frame</bodyName>
        <updateRateHZ>100.0</updateRateHZ>
        <gaussianNoise>0.0</gaussianNoise>
        <xyzOffset>0 0 0</xyzOffset>
        <rpyOffset>0 0 0</rpyOffset>
        <frameName>imu_frame</frameName>
      </plugin>
      <pose>0 0 0 0 0 0</pose>
    </sensor>
  </gazebo>
  <!--
<gazebo reference="foot_left_1">
    <sensor name="bit_foot_left" type="contact">
        <always_on>true</always_on>
        <updateRate>100.0</updateRate>
        <visualize>true</visualize>
        <contact>
          <collision>foot_left_1_collision</collision>
        </contact>
        <plugin name="foot_plugin_left" filename="libgazebo_ros_bumper.so">
          <bumperTopicName>foot_pressure_left/simulated</bumperTopicName>
          <frameName>l_sole</frameName>
        </plugin>
      </sensor>
</gazebo>-->
  <!--
<gazebo reference="llb">
    <sensor name="llb_sensor" type="contact">
        <always_on>true</always_on>
        <updateRate>100.0</updateRate>
        <contact>
          <collision>l_foot_fixed_joint_lump__llb_collision_11</collision>
        </contact>
        <plugin name="llb_plugin" filename="libgazebo_ros_bumper.so">
          <bumperTopicName>llb/simulated</bumperTopicName>
          <frameName>l_cleat_l_back</frameName>
          <updateRate>100.0</updateRate>
        </plugin>
      </sensor>
</gazebo>
-->
  <gazebo>
    <plugin filename="libgazebo_ros_f3d.so" name="gazebo_ros_f3d">
      <alwaysOn>true</alwaysOn>
      <updateRate>100.0</updateRate>
      <bodyName>r_foot</bodyName>
      <topicName>tst_test_test</topicName>
      <robotNamespace>demo</robotNamespace>
    </plugin>
  </gazebo>
</robot>
